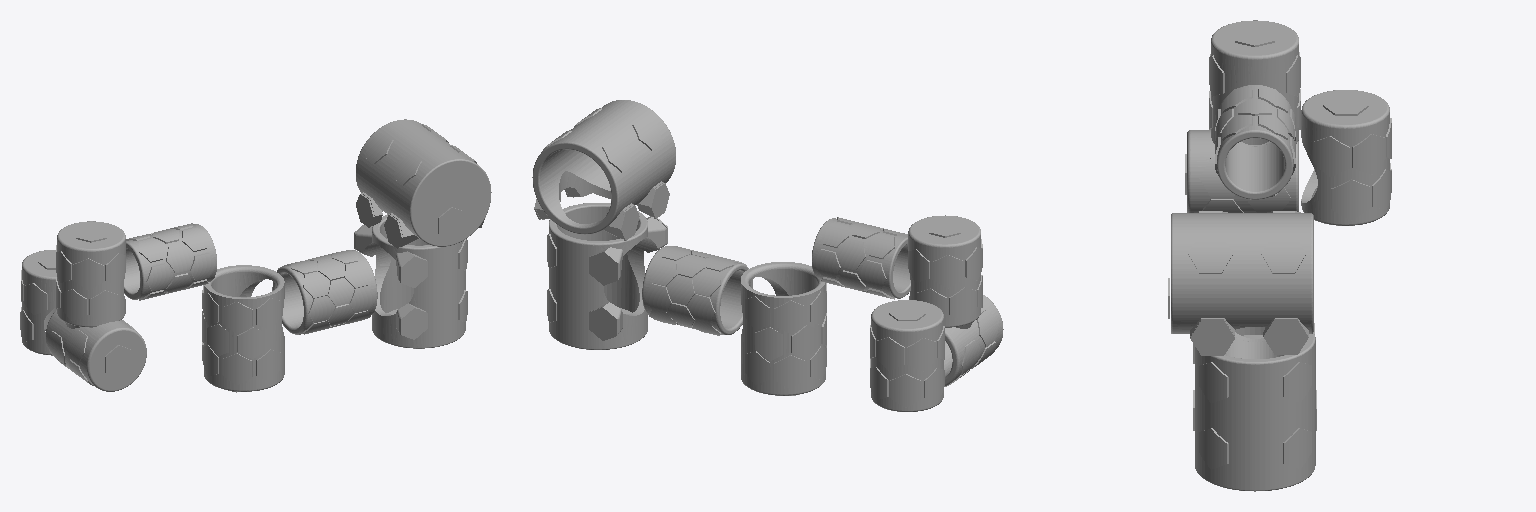
--- Facts derived from the render (not from the file) ---
Views: 3 orthographic renders of the robot side by side, from view 1: azimuth 30°, elevation 25°; view 2: azimuth 150°, elevation 25°; view 3: azimuth 270°, elevation 25°.
Model dual_arm_agv with 124 links and 123 joints (6 revolute, 117 fixed), rooted at World, posed all joints at 0.
Links seen in each view (by area): view 1: right_eskin_05-2axis, right_eskin_05-1axis, right_eskin_03axis, right_eskin_01-2axis, right_eskin_01-3axis, right_eskin_02axis, right_eskin_01-1axis, right_eskin_04axis, right_eskin_01-3lib-02, right_eskin_03-axis-02, right_eskin_03-axis-11, right_eskin_01-3lib-09 (+16 smaller); view 2: right_eskin_05-2axis, right_eskin_05-1axis, right_eskin_03axis, right_eskin_01-1axis, right_eskin_01-3axis, right_eskin_02axis, right_eskin_04axis, right_eskin_01-2axis, right_eskin_01-1lib-08, right_eskin_03-axis-13, right_eskin_01-3lib-04, right_eskin_03-axis-04 (+24 smaller); view 3: right_eskin_05-2axis, right_eskin_05-1axis, right_eskin_01-1axis, right_eskin_01-3axis, right_eskin_02axis, right_eskin_01-2axis, right_eskin_05-2lib-18, right_eskin_05-2lib-05, right_eskin_01-1lib-06, right_eskin_05-2flat-20, right_eskin_05-2flat-07, right_eskin_01-1lib-05 (+11 smaller).
Link boxes in pixels (x1=…): right_eskin_05-2axis: x1=356, y1=119, x2=491, y2=246; right_eskin_05-1axis: x1=355, y1=214, x2=465, y2=348; right_eskin_03axis: x1=204, y1=265, x2=284, y2=391; right_eskin_01-2axis: x1=46, y1=310, x2=146, y2=391; right_eskin_01-3axis: x1=57, y1=221, x2=125, y2=327; right_eskin_02axis: x1=124, y1=224, x2=216, y2=299; right_eskin_01-1axis: x1=22, y1=250, x2=79, y2=355; right_eskin_04axis: x1=272, y1=250, x2=377, y2=334; right_eskin_01-3lib-02: x1=73, y1=258, x2=103, y2=290; right_eskin_03-axis-02: x1=222, y1=302, x2=252, y2=333; right_eskin_03-axis-11: x1=222, y1=353, x2=252, y2=384; right_eskin_01-3lib-09: x1=89, y1=290, x2=117, y2=321; right_eskin_05-2axis: x1=532, y1=100, x2=675, y2=238; right_eskin_05-1axis: x1=549, y1=203, x2=666, y2=349; right_eskin_03axis: x1=741, y1=262, x2=825, y2=395; right_eskin_01-1axis: x1=871, y1=300, x2=943, y2=411; right_eskin_01-3axis: x1=908, y1=215, x2=980, y2=327; right_eskin_02axis: x1=812, y1=218, x2=910, y2=298; right_eskin_04axis: x1=642, y1=246, x2=752, y2=334; right_eskin_01-2axis: x1=944, y1=295, x2=1003, y2=385; right_eskin_01-1lib-08: x1=890, y1=374, x2=921, y2=407; right_eskin_03-axis-13: x1=774, y1=355, x2=805, y2=388; right_eskin_01-3lib-04: x1=932, y1=255, x2=963, y2=288; right_eskin_03-axis-04: x1=774, y1=300, x2=805, y2=333; right_eskin_05-2axis: x1=1171, y1=213, x2=1313, y2=336; right_eskin_05-1axis: x1=1195, y1=324, x2=1315, y2=491; right_eskin_01-1axis: x1=1301, y1=90, x2=1389, y2=225; right_eskin_01-3axis: x1=1211, y1=20, x2=1298, y2=145; right_eskin_02axis: x1=1217, y1=85, x2=1293, y2=199; right_eskin_01-2axis: x1=1187, y1=130, x2=1298, y2=212; right_eskin_05-2lib-18: x1=1188, y1=236, x2=1232, y2=273; right_eskin_05-2lib-05: x1=1261, y1=236, x2=1305, y2=273; right_eskin_01-1lib-06: x1=1331, y1=179, x2=1370, y2=220; right_eskin_05-2flat-20: x1=1190, y1=320, x2=1234, y2=355; right_eskin_05-2flat-07: x1=1264, y1=320, x2=1308, y2=354; right_eskin_01-1lib-05: x1=1313, y1=136, x2=1350, y2=176.
Size in the robot's own frame: 0.5587 by 0.2107 by 0.2641 metres.
Meshes: 21 distinct files referenced, 115 mesh visuals loaded (11 Collada DAE); not drawn: 8 (reference not matched to a file when rendering).

URDF robot description (dual_arm_agv):
<?xml  version="1.0"?>
<robot name ="dual_arm_agv"> 
    <!-- Author: Chengjin Wang; e-mail:[email redacted]. The urdf file was develped in tongji university.-->

    <!--create  color params-->
    <material name ="LightGrey">
        <color rgba="0.7 0.7 0.7 1.0"/>
    </material>

    <!--create mass params
    <mass name ="agv_base_mass">
        <mass value="1.0"/>
    </mass>

    <mass name ="shoulder_mass">
        <mass value="2.0"/>
    </mass>
    <mass name ="upper_arm_mass">
        <mass value="3.42"/>
    </mass>
    <mass name ="forearm_mass">
        <mass value="1.26"/>
    </mass>
    <mass name ="wrist_1_mass">
        <mass value="0.8"/>
    </mass>
    <mass name ="wrist_2_mass">
        <mass value="0.8"/>
    </mass>
    <mass name ="wrist_3_mass">
        <mass value="0.35"/>
    </mass>
-->

    <!--Create a world.-->
    <link  name ="World"/>

    <joint name="agv_base_link_to_world" type="fixed">
        <parent link="World"/>
        <child link="agv_base_link"/>
        <origin xyz="0.0 0.0 0.0" rpy="0.0 0.0 0.0"/>
    </joint>
    <!--agv_base_link-->
    <link name = "agv_base_link">
        <visual>
            <origin  xyz="0.0 0.0 0.0" rpy="0.0 0.0 0.0"/>
            <geometry>
                <mesh filename = "meshes/agv_base_link.STL"/>
            </geometry >
            <material name ="LightGrey"/>
        </visual>
        <collision>
            <origin xyz="0.0 0.0 0.0" rpy="0.0 0.0 0.0"/>
            <geometry>
                <mesh filename ="meshes/agv_base_link.STL"/>
            </geometry>
        </collision>
        <inertial>
            <mass value ="60"/>
            <inertia ixx="1" ixy="0.0" ixz="0.0" iyy="1" iyz="0.0" izz="1"/>
        </inertial>
    </link>


    <!--arm base link to agv base joint-->
    <joint name="right_base_link_to_agv_base_link" type="fixed">
        <parent link="agv_base_link"/>
        <child link="right_base_link"/>
        <axis xyz="0.0 0.0 1.0"/>
        <origin xyz="0.262 0. 1.2465" rpy="0.0 0.0 0.0" />
        <limit lower="-6.28318530718" upper="6.28318530718" effort="56.0" velocity="3.14159265359"/>
    </joint>

    <!--link chain: arm base link -shouder link- upper link- forearm link- wrist link 1 - wrist link 2 - wrist link3 -->
    <!-- right arm base link-->
    <link name="right_base_link">
        <visual>
            <origin xyz="0.0 -0.215 0.0" rpy="1.5708 0.0 0.0"/>
            <geometry>
                <mesh filename ="meshes/base.dae"/>
            </geometry>
            <material name = "LightGrey"/>
        </visual>
        <collision>
            <origin xyz="0.0 -0.215 0.0" rpy="1.5708 0.0 0.0"/>
            <geometry>
                 <mesh filename = "meshes/base.stl"/>
            </geometry>
        </collision>
        <inertial>
            <mass value="2.0"/>
            <inertia ixx="0.003053165" ixy="0.0" ixz="0.0" iyy="0.003053165" iyz="0.0" izz="0.005625"/>
        </inertial>
    </link>

    
    <!--right arm joint 1 -->
    <joint name="right_shoulder_link_to_right_base_link" type="revolute">
            <origin xyz="0.0 -0.3669 0.0 " rpy="1.5708 0.0 0.0"/>
            <parent link="right_base_link"/>
            <child link="right_shoulder_link"/>
            <axis xyz="0.0 0.0 1.0"/>
            <limit lower="-6.28318530718" upper="6.28318530718" effort="56.0" velocity="1.5708"/>
    </joint>

    <!--right shouder link-->
  
    <link name="right_shoulder_link">
        <visual>
            <origin xyz="0.0 0.0 0.0" rpy="0.0 0.0 3.14159"/>
            <geometry>
                <mesh filename ="meshes/shoulder.dae"/>
            </geometry>
            <material name = "LightGrey"/>
        </visual>
        <collision>
            <origin xyz="0.0 0.0 0.0" rpy="0.0 0.0 3.14159"/>
            <geometry>
                    <mesh filename ="meshes/shoulder.stl"/>
            </geometry>
        </collision>
        <inertial>
            <origin xyz="0 0 0" rpy="0 0 0" />
            <mass value ="2.0"/>
            <inertia ixx="0.008093163" ixy="0.0" ixz="0.0" iyy="0.008093163" iyz="0.0" izz="0.005625"/>
        </inertial>
    </link>


    <!--right arm 05-2 eskin joint-->
     <joint name="right_shoulder_link_to_right_eskin_05-2axis" type="fixed">
            <origin xyz="-0.0 0.0 -0.055" rpy="0.0 0.0 1.5708"/>
            <parent link="right_shoulder_link"/>
            <child link="right_eskin_05-2axis"/>
            <axis xyz="0.0 0.0 1.0"/>
            <limit lower="-6.28318530718" upper="6.28318530718" effort="56.0" velocity="1.5708"/>
    </joint>

    <!--right arm 05-2 eskin model -->
    <link name="right_eskin_05-2axis">
        <visual>
            <origin xyz="0.0 0.0 0.0" rpy="0.0 0.0 0.0"/>
            <geometry>
                <mesh filename ="meshes/e_skin/05_meshs/05_axis_py.dae"/>
            </geometry>
            <material name = "LightGrey"/>
        </visual>
        <collision>
            <origin xyz="0.0 0.0 0.0" rpy="0.0 0.0 0.0"/>
        <geometry>
             <mesh filename ="meshes/e_skin/05_meshs/05_axis_py.stl"/>
        </geometry>
        </collision>
        <inertial>
            <origin xyz="0 0 0" rpy="0 0 0" />
            <mass value ="2.0"/>
            <inertia ixx="0.008093163" ixy="0.0" ixz="0.0" iyy="0.008093163" iyz="0.0" izz="0.005625"/>
        </inertial>
    </link>


    <!-- right_arm 05-2 eskin first  culon -->

    <!--right arm 05-2lib-01 eskin joint-->
     <joint name="right_eskin_05-2axis_to_right_eskin_05-2flat-01" type="fixed">
            <origin xyz="-0.0394 0.05648 0.026" rpy="-1.5708 0.5235 0.0"/>
            <parent link="right_eskin_05-2axis"/>
            <child link="right_eskin_05-2flat-01"/>
            <axis xyz="0.0 0.0 1.0"/>
            <limit lower="-6.28318530718" upper="6.28318530718" effort="56.0" velocity="1.5708"/>
    </joint>

    <!--right arm 05-2lib-01 eskin model -->
    <link name="right_eskin_05-2flat-01">
        <visual>
            <origin xyz="0.0 0.0 0.0" rpy="0.0 0.0 0.0"/>
            <geometry>
                <mesh filename ="meshes/e_skin/05_meshs/flat_py.dae"/>
            </geometry>
            <material name = "LightGrey"/>
        </visual>
        <collision>
            <origin xyz="0.0 0.0 0.0" rpy="0.0 0.0 0.0"/>
        <geometry>
             <mesh filename ="meshes/e_skin/05_meshs/flat_py.stl"/>
        </geometry>
        </collision>
        <inertial>
            <origin xyz="0 0 0" rpy="0 0 0" />
            <mass value ="2.0"/>
            <inertia ixx="0.008093163" ixy="0.0" ixz="0.0" iyy="0.008093163" iyz="0.0" izz="0.005625"/>
        </inertial>
    </link>

    <!--right arm 05-2lib-03 eskin joint-->
    <joint name="right_eskin_05-2axis_to_right_eskin_05-2lib-03" type="fixed">
            <origin xyz="0.042426 0.042426 0.026" rpy="0.0 0.0 -0.785375"/>
            <parent link="right_eskin_05-2axis"/>
            <child link="right_eskin_05-2lib-03"/>
            <axis xyz="0.0 0.0 1.0"/>
            <limit lower="-6.28318530718" upper="6.28318530718" effort="56.0" velocity="1.5708"/>
    </joint>

    <!--right arm 05-2lib-03 eskin model -->
    <link name="right_eskin_05-2lib-03">
        <visual>
            <origin xyz="0.0 0.0 0.0" rpy="0.0 0.0 0.0"/>
            <geometry>
                <mesh filename ="meshes/e_skin/05_meshs/05_lib_py.dae"/>
            </geometry>
            <material name = "LightGrey"/>
        </visual>
        <collision>
            <origin xyz="0.0 0.0 0.0" rpy="0.0 0.0 0.0"/>
        <geometry>
             <mesh filename ="meshes/e_skin/05_meshs/05_lib_py.stl"/>
        </geometry>
        </collision>
        <inertial>
            <origin xyz="0 0 0" rpy="0 0 0" />
            <mass value ="2.0"/>
            <inertia ixx="0.008093163" ixy="0.0" ixz="0.0" iyy="0.008093163" iyz="0.0" izz="0.005625"/>
        </inertial>
    </link>

    <!--right arm 05-2lib-05 eskin joint-->
    <joint name="right_eskin_05-2axis_to_right_eskin_05-2lib-05" type="fixed">
            <origin xyz="0.042426 -0.042426 0.026" rpy="0.0 0.0 -2.3636"/>
            <parent link="right_eskin_05-2axis"/>
            <child link="right_eskin_05-2lib-05"/>
            <axis xyz="0.0 0.0 1.0"/>
            <limit lower="-6.28318530718" upper="6.28318530718" effort="56.0" velocity="1.5708"/>
    </joint>

    <!--right arm 05-2lib-05 eskin model -->
    <link name="right_eskin_05-2lib-05">
        <visual>
            <origin xyz="0.0 0.0 0.0" rpy="0.0 0.0 0.0"/>
            <geometry>
                <mesh filename ="meshes/e_skin/05_meshs/05_lib_py.dae"/>
            </geometry>
            <material name = "LightGrey"/>
        </visual>
        <collision>
            <origin xyz="0.0 0.0 0.0" rpy="0.0 0.0 0.0"/>
        <geometry>
             <mesh filename ="meshes/e_skin/05_meshs/05_lib_py.stl"/>
        </geometry>
        </collision>
        <inertial>
            <origin xyz="0 0 0" rpy="0 0 0" />
            <mass value ="2.0"/>
            <inertia ixx="0.008093163" ixy="0.0" ixz="0.0" iyy="0.008093163" iyz="0.0" izz="0.005625"/>
        </inertial>
    </link>

    <!--right arm 05-2lib-07 eskin joint-->
    <joint name="right_eskin_05-2axis_to_right_eskin_05-2flat-07" type="fixed">
            <origin xyz="-0.0394 -0.05648 0.026" rpy="-1.5708 0.5235 0.0"/>
            <parent link="right_eskin_05-2axis"/>
            <child link="right_eskin_05-2flat-07"/>
            <axis xyz="0.0 0.0 1.0"/>
            <limit lower="-6.28318530718" upper="6.28318530718" effort="56.0" velocity="1.5708"/>
    </joint>

    <!--right arm 05-2lib-07 eskin model -->
    <link name="right_eskin_05-2flat-07">
        <visual>
            <origin xyz="0.0 0.0 0.0" rpy="0.0 0.0 0.0"/>
            <geometry>
                <mesh filename ="meshes/e_skin/05_meshs/flat_py.dae"/>
            </geometry>
            <material name = "LightGrey"/>
        </visual>
        <collision>
            <origin xyz="0.0 0.0 0.0" rpy="0.0 0.0 0.0"/>
        <geometry>
             <mesh filename ="meshes/e_skin/05_meshs/flat_py.stl"/>
        </geometry>
        </collision>
        <inertial>
            <origin xyz="0 0 0" rpy="0 0 0" />
            <mass value ="2.0"/>
            <inertia ixx="0.008093163" ixy="0.0" ixz="0.0" iyy="0.008093163" iyz="0.0" izz="0.005625"/>
        </inertial>
    </link>



     <!-- right_arm 05-2 eskin third  culon -->

     <joint name="right_eskin_05-2axis_to_right_eskin_05-2flat-14" type="fixed">
            <origin xyz="-0.0394 0.05648 0.095" rpy="-1.5708 0.5235 0.0"/>
            <parent link="right_eskin_05-2axis"/>
            <child link="right_eskin_05-2flat-14"/>
            <axis xyz="0.0 0.0 1.0"/>
            <limit lower="-6.28318530718" upper="6.28318530718" effort="56.0" velocity="1.5708"/>
    </joint>

    <!--right arm 05-2lib-14 eskin model -->
    <link name="right_eskin_05-2flat-14">
        <visual>
            <origin xyz="0.0 0.0 0.0" rpy="0.0 0.0 0.0"/>
            <geometry>
                <mesh filename ="meshes/e_skin/05_meshs/flat_py.dae"/>
            </geometry>
            <material name = "LightGrey"/>
        </visual>
        <collision>
            <origin xyz="0.0 0.0 0.0" rpy="0.0 0.0 0.0"/>
        <geometry>
             <mesh filename ="meshes/e_skin/05_meshs/flat_py.stl"/>
        </geometry>
        </collision>
        <inertial>
            <origin xyz="0 0 0" rpy="0 0 0" />
            <mass value ="2.0"/>
            <inertia ixx="0.008093163" ixy="0.0" ixz="0.0" iyy="0.008093163" iyz="0.0" izz="0.005625"/>
        </inertial>
    </link>

    <!--right arm 05-2lib-16 eskin joint-->
    <joint name="right_eskin_05-2axis_to_right_eskin_05-2lib-16" type="fixed">
            <origin xyz="0.042426 0.042426 0.095" rpy="0.0 0.0 -0.785375"/>
            <parent link="right_eskin_05-2axis"/>
            <child link="right_eskin_05-2lib-16"/>
            <axis xyz="0.0 0.0 1.0"/>
            <limit lower="-6.28318530718" upper="6.28318530718" effort="56.0" velocity="1.5708"/>
    </joint>

    <!--right arm 05-2lib-16 eskin model -->
    <link name="right_eskin_05-2lib-16">
        <visual>
            <origin xyz="0.0 0.0 0.0" rpy="0.0 0.0 0.0"/>
            <geometry>
                <mesh filename ="meshes/e_skin/05_meshs/05_lib_py.dae"/>
            </geometry>
            <material name = "LightGrey"/>
        </visual>
        <collision>
            <origin xyz="0.0 0.0 0.0" rpy="0.0 0.0 0.0"/>
        <geometry>
             <mesh filename ="meshes/e_skin/05_meshs/05_lib_py.stl"/>
        </geometry>
        </collision>
        <inertial>
            <origin xyz="0 0 0" rpy="0 0 0" />
            <mass value ="2.0"/>
            <inertia ixx="0.008093163" ixy="0.0" ixz="0.0" iyy="0.008093163" iyz="0.0" izz="0.005625"/>
        </inertial>
    </link>


    <!--right arm 05-2lib-18 eskin joint-->
    <joint name="right_eskin_05-2axis_to_right_eskin_05-2lib-18" type="fixed">
            <origin xyz="0.042426 -0.042426 0.095" rpy="0.0 0.0 -2.3636"/>
            <parent link="right_eskin_05-2axis"/>
            <child link="right_eskin_05-2lib-18"/>
            <axis xyz="0.0 0.0 1.0"/>
            <limit lower="-6.28318530718" upper="6.28318530718" effort="56.0" velocity="1.5708"/>
    </joint>

    <!--right arm 05-2lib-18 eskin model -->
    <link name="right_eskin_05-2lib-18">
        <visual>
            <origin xyz="0.0 0.0 0.0" rpy="0.0 0.0 0.0"/>
            <geometry>
                <mesh filename ="meshes/e_skin/05_meshs/05_lib_py.dae"/>
            </geometry>
            <material name = "LightGrey"/>
        </visual>
        <collision>
            <origin xyz="0.0 0.0 0.0" rpy="0.0 0.0 0.0"/>
        <geometry>
             <mesh filename ="meshes/e_skin/05_meshs/05_lib_py.stl"/>
        </geometry>
        </collision>
        <inertial>
            <origin xyz="0 0 0" rpy="0 0 0" />
            <mass value ="2.0"/>
            <inertia ixx="0.008093163" ixy="0.0" ixz="0.0" iyy="0.008093163" iyz="0.0" izz="0.005625"/>
        </inertial>
    </link>

    <!--right arm 05-2lib-20 eskin joint-->
    <joint name="right_eskin_05-2axis_to_right_eskin_05-2flat-20" type="fixed">
            <origin xyz="-0.0394 -0.05648 0.095" rpy="1.5708 0.5235 0.0"/>
            <parent link="right_eskin_05-2axis"/>
            <child link="right_eskin_05-2flat-20"/>
            <axis xyz="0.0 0.0 1.0"/>
            <limit lower="-6.28318530718" upper="6.28318530718" effort="56.0" velocity="1.5708"/>
    </joint>

    <!--right arm 05-2lib-20 eskin model -->
    <link name="right_eskin_05-2flat-20">
        <visual>
            <origin xyz="0.0 0.0 0.0" rpy="0.0 0.0 0.0"/>
            <geometry>
                <mesh filename ="meshes/e_skin/05_meshs/flat_py.dae"/>
            </geometry>
            <material name = "LightGrey"/>
        </visual>
        <collision>
            <origin xyz="0.0 0.0 0.0" rpy="0.0 0.0 0.0"/>
        <geometry>
             <mesh filename ="meshes/e_skin/05_meshs/flat_py.stl"/>
        </geometry>
        </collision>
        <inertial>
            <origin xyz="0 0 0" rpy="0 0 0" />
            <mass value ="2.0"/>
            <inertia ixx="0.008093163" ixy="0.0" ixz="0.0" iyy="0.008093163" iyz="0.0" izz="0.005625"/>
        </inertial>
    </link>

     <!-- right_arm 05-2 eskin flat  culon -->
    <joint name="right_eskin_05-2axis_to_right_eskin_05-2flat-23" type="fixed">
            <origin xyz="-0.025 0.0 0.135" rpy="0.0 0.0 0.0"/>
            <parent link="right_eskin_05-2axis"/>
            <child link="right_eskin_05-2flat-23"/>
            <axis xyz="0.0 0.0 1.0"/>
            <limit lower="-6.28318530718" upper="6.28318530718" effort="56.0" velocity="1.5708"/>
    </joint>


    <!--right arm 05-2lib-23 eskin model -->
    <link name="right_eskin_05-2flat-23">
        <visual>
            <origin xyz="0.0 0.0 0.0" rpy="0.0 0.0 0.0"/>
            <geometry>
                <mesh filename ="meshes/e_skin/05_meshs/flat_py.dae"/>
            </geometry>
            <material name = "LightGrey"/>
        </visual>
        <collision>
            <origin xyz="0.0 0.0 0.0" rpy="0.0 0.0 0.0"/>
        <geometry>
             <mesh filename ="meshes/e_skin/05_meshs/flat_py.stl"/>
        </geometry>
        </collision>
        <inertial>
            <origin xyz="0 0 0" rpy="0 0 0" />
            <mass value ="2.0"/>
            <inertia ixx="0.008093163" ixy="0.0" ixz="0.0" iyy="0.008093163" iyz="0.0" izz="0.005625"/>
        </inertial>
    </link>

    <!--right arm joint 2-->
    <joint name="right_upper_arm_link_to_right_shoulder_link" type="revolute">
        <origin xyz="0.0 0.0 0.0" rpy="1.5708 0.0  0."/>
        <parent link="right_shoulder_link"/>
        <child link="right_upper_arm_link"/>
        <axis xyz="0.0 0.0 1"/>
        <limit lower="-6.28318530718" upper="6.28318530718" effort="56.0" velocity="1.5708"/>
    </joint>

    <!--right upper link -->
    <link name="right_upper_arm_link">
        <inertial>
            <origin xyz="-0.121825 0.0 0.12" rpy="  0.0 1.5708 0.0"/>
            <mass value ="3.42"/>
            <inertia ixx="0.021728483" ixy="0.0" ixz="0.0" iyy="0.021728483" iyz="0.0" izz="0.00961875"/>
        </inertial>
        <visual >
            <origin xyz="0.0 0.0 0.1198" rpy="1.5708 0.0 -1.5708 "/>
            <geometry>
                <mesh filename="meshes/upperarm.dae"/>
            </geometry>
            <material name="LightGrey"/>
        </visual>
        <collision>
            <origin xyz="0.0 0.0 0.1198" rpy="1.5708 0.0 -1.5708"/>
            <geometry>
                <mesh filename="meshes/upperarm.stl"/>
            </geometry>
        </collision>
    </link>


     <!-- right arm 05-01 eskin joint -->
     <joint name="right_upper_arm_link_to_right_eskin_05-1axis" type="fixed">
            <origin xyz="0.0 0.0 0.0648" rpy="0.0 0.0  0.0"/>
            <parent link="right_upper_arm_link"/>
            <child link="right_eskin_05-1axis"/>
            <axis xyz="0.0 0.0 1.0"/>
            <limit lower="-6.28318530718" upper="6.28318530718" effort="56.0" velocity="1.5708"/>
    </joint>

    <!--right arm 05-01 eskin model -->
    <link name="right_eskin_05-1axis">
        <visual>
            <origin xyz="0.0 0.0 0.00" rpy="0.0 0.0 0.0"/>
            <geometry>
                <mesh filename ="meshes/e_skin/05_meshs/05_axis_py.dae"/>
            </geometry>
            <material name = "LightGrey"/>
        </visual>
        <collision>
            <origin xyz="0.0 0.0 0.0" rpy="0.0 0.0 0.0"/>
        <geometry>
             <mesh filename ="meshes/e_skin/05_meshs/05_axis_py.stl"/>
        </geometry>
        </collision>
        <inertial>
            <origin xyz="0 0 0" rpy="0 0 0" />
            <mass value ="2.0"/>
            <inertia ixx="0.008093163" ixy="0.0" ixz="0.0" iyy="0.008093163" iyz="0.0" izz="0.005625"/>
        </inertial>
    </link>

    <!-- right_arm 05-1 eskin first  culon -->

    <!--right arm 05-1lib-01 eskin joint-->
     <joint name="right_eskin_05-1axis_to_right_eskin_05-1flat-01" type="fixed">
            <origin xyz="-0.0394 0.05648 0.026" rpy="-1.5708 0.5235 0.0"/>
            <parent link="right_eskin_05-1axis"/>
            <child link="right_eskin_05-1flat-01"/>
            <axis xyz="0.0 0.0 1.0"/>
            <limit lower="-6.28318530718" upper="6.28318530718" effort="56.0" velocity="1.5708"/>
    </joint>

    <!--right arm 05-1lib-01 eskin model -->
    <link name="right_eskin_05-1flat-01">
        <visual>
            <origin xyz="0.0 0.0 0.0" rpy="0.0 0.0 0.0"/>
            <geometry>
                <mesh filename ="meshes/e_skin/05_meshs/flat_py.dae"/>
            </geometry>
            <material name = "LightGrey"/>
        </visual>
        <collision>
            <origin xyz="0.0 0.0 0.0" rpy="0.0 0.0 0.0"/>
        <geometry>
             <mesh filename ="meshes/e_skin/05_meshs/flat_py.stl"/>
        </geometry>
        </collision>
        <inertial>
            <origin xyz="0 0 0" rpy="0 0 0" />
            <mass value ="2.0"/>
            <inertia ixx="0.008093163" ixy="0.0" ixz="0.0" iyy="0.008093163" iyz="0.0" izz="0.005625"/>
        </inertial>
    </link>

    <!--right arm 05-1lib-03 eskin joint-->
    <joint name="right_eskin_05-1axis_to_right_eskin_05-1lib-03" type="fixed">
            <origin xyz="0.042426 0.042426 0.026" rpy="0.0 0.0 -0.785375"/>
            <parent link="right_eskin_05-1axis"/>
            <child link="right_eskin_05-1lib-03"/>
            <axis xyz="0.0 0.0 1.0"/>
            <limit lower="-6.28318530718" upper="6.28318530718" effort="56.0" velocity="1.5708"/>
    </joint>

    <!--right arm 05-1lib-03 eskin model -->
    <link name="right_eskin_05-1lib-03">
        <visual>
            <origin xyz="0.0 0.0 0.0" rpy="0.0 0.0 0.0"/>
            <geometry>
                <mesh filename ="meshes/e_skin/05_meshs/05_lib_py.dae"/>
            </geometry>
            <material name = "LightGrey"/>
        </visual>
        <collision>
            <origin xyz="0.0 0.0 0.0" rpy="0.0 0.0 0.0"/>
        <geometry>
             <mesh filename ="meshes/e_skin/05_meshs/05_lib_py.stl"/>
        </geometry>
        </collision>
        <inertial>
            <origin xyz="0 0 0" rpy="0 0 0" />
            <mass value ="2.0"/>
            <inertia ixx="0.008093163" ixy="0.0" ixz="0.0" iyy="0.008093163" iyz="0.0" izz="0.005625"/>
        </inertial>
    </link>


    <!--right arm 05-1lib-05 eskin joint-->
    <joint name="right_eskin_05-1axis_to_right_eskin_05-1lib-05" type="fixed">
            <origin xyz="0.042426 -0.042426 0.026" rpy="0.0 0.0 -2.3636"/>
            <parent link="right_eskin_05-1axis"/>
            <child link="right_eskin_05-1lib-05"/>
            <axis xyz="0.0 0.0 1.0"/>
            <limit lower="-6.28318530718" upper="6.28318530718" effort="56.0" velocity="1.5708"/>
    </joint>

    <!--right arm 05-1lib-05 eskin model -->
    <link name="right_eskin_05-1lib-05">
        <visual>
            <origin xyz="0.0 0.0 0.0" rpy="0.0 0.0 0.0"/>
            <geometry>
                <mesh filename ="meshes/e_skin/05_meshs/05_lib_py.dae"/>
            </geometry>
            <material name = "LightGrey"/>
        </visual>
        <collision>
            <origin xyz="0.0 0.0 0.0" rpy="0.0 0.0 0.0"/>
        <geometry>
             <mesh filename ="meshes/e_skin/05_meshs/05_lib_py.stl"/>
        </geometry>
        </collision>
        <inertial>
            <origin xyz="0 0 0" rpy="0 0 0" />
            <mass value ="2.0"/>
            <inertia ixx="0.008093163" ixy="0.0" ixz="0.0" iyy="0.008093163" iyz="0.0" izz="0.005625"/>
        </inertial>
    </link>

    <!--right arm 05-1lib-07 eskin joint-->
    <joint name="right_eskin_05-1axis_to_right_eskin_05-1flat-07" type="fixed">
            <origin xyz="-0.0394 -0.05648 0.026" rpy="-1.5708 0.5235 0.0"/>
            <parent link="right_eskin_05-1axis"/>
            <child link="right_eskin_05-1flat-07"/>
            <axis xyz="0.0 0.0 1.0"/>
            <limit lower="-6.28318530718" upper="6.28318530718" effort="56.0" velocity="1.5708"/>
    </joint>

    <!--right arm 05-1lib-07 eskin model -->
    <link name="right_eskin_05-1flat-07">
        <visual>
            <origin xyz="0.0 0.0 0.0" rpy="0.0 0.0 0.0"/>
            <geometry>
                <mesh filename ="meshes/e_skin/05_meshs/flat_py.dae"/>
            </geometry>
            <material name = "LightGrey"/>
        </visual>
        <collision>
            <origin xyz="0.0 0.0 0.0" rpy="0.0 0.0 0.0"/>
        <geometry>
             <mesh filename ="meshes/e_skin/05_meshs/flat_py.stl"/>
        </geometry>
        </collision>
        <inertial>
            <origin xyz="0 0 0" rpy="0 0 0" />
            <mass value ="2.0"/>
            <inertia ixx="0.008093163" ixy="0.0" ixz="0.0" iyy="0.008093163" iyz="0.0" izz="0.005625"/>
        </inertial>
    </link>

    <!-- right_arm 05-1 eskin third  culon -->

     <joint name="right_eskin_05-1axis_to_right_eskin_05-1flat-14" type="fixed">
            <origin xyz="-0.0394 0.05648 0.095" rpy="-1.5708 0.5235 0.0"/>
            <parent link="right_eskin_05-1axis"/>
            <child link="right_eskin_05-1flat-14"/>
            <axis xyz="0.0 0.0 1.0"/>
            <limit lower="-6.28318530718" upper="6.28318530718" effort="56.0" velocity="1.5708"/>
    </joint>

    <!--right arm 05-1lib-14 eskin model -->
    <link name="right_eskin_05-1flat-14">
        <visual>
            <origin xyz="0.0 0.0 0.0" rpy="0.0 0.0 0.0"/>
            <geometry>
                <mesh filename ="meshes/e_skin/05_meshs/flat_py.dae"/>
            </geometry>
            <material name = "LightGrey"/>
        </visual>
        <collision>
            <origin xyz="0.0 0.0 0.0" rpy="0.0 0.0 0.0"/>
        <geometry>
             <mesh filename ="meshes/e_skin/05_meshs/flat_py.stl"/>
        </geometry>
        </collision>
        <inertial>
            <origin xyz="0 0 0" rpy="0 0 0" />
            <mass value ="2.0"/>
            <inertia ixx="0.008093163" ixy="0.0" ixz="0.0" iyy="0.008093163" iyz="0.0" izz="0.005625"/>
        </inertial>
    </link>

    <!--right arm 05-1lib-16 eskin joint-->
    <joint name="right_eskin_05-1axis_to_right_eskin_05-1lib-16" type="fixed">
            <origin xyz="0.042426 0.042426 0.095" rpy="0.0 0.0 -0.785375"/>
            <parent link="right_eskin_05-1axis"/>
            <child link="right_eskin_05-1lib-16"/>
            <axis xyz="0.0 0.0 1.0"/>
            <limit lower="-6.28318530718" upper="6.28318530718" effort="56.0" velocity="1.5708"/>
    </joint>

    <!--right arm 05-1lib-16 eskin model -->
    <link name="right_eskin_05-1lib-16">
        <visual>
            <origin xyz="0.0 0.0 0.0" rpy="0.0 0.0 0.0"/>
            <geometry>
                <mesh filename ="meshes/e_skin/05_meshs/05_lib_py.dae"/>
            </geometry>
            <material name = "LightGrey"/>
        </visual>
        <collision>
            <origin xyz="0.0 0.0 0.0" rpy="0.0 0.0 0.0"/>
        <geometry>
             <mesh filename ="meshes/e_skin/05_meshs/05_lib_py.stl"/>
        </geometry>
        </collision>
        <inertial>
            <origin xyz="0 0 0" rpy="0 0 0" />
            <mass value ="2.0"/>
            <inertia ixx="0.008093163" ixy="0.0" ixz="0.0" iyy="0.008093163" iyz="0.0" izz="0.005625"/>
        </inertial>
    </link>


    <!--right arm 05-1lib-18 eskin joint-->
    <joint name="right_eskin_05-1axis_to_right_eskin_05-1lib-18" type="fixed">
            <origin xyz="0.042426 -0.042426 0.095" rpy="0.0 0.0 -2.3636"/>
            <parent link="right_eskin_05-1axis"/>
            <child link="right_eskin_05-1lib-18"/>
            <axis xyz="0.0 0.0 1.0"/>
            <limit lower="-6.28318530718" upper="6.28318530718" effort="56.0" velocity="1.5708"/>
    </joint>

    <!--right arm 05-1lib-18 eskin model -->
    <link name="right_eskin_05-1lib-18">
        <visual>
            <origin xyz="0.0 0.0 0.0" rpy="0.0 0.0 0.0"/>
            <geometry>
                <mesh filename ="meshes/e_skin/05_meshs/05_lib_py.dae"/>
            </geometry>
            <material name = "LightGrey"/>
        </visual>
        <collision>
            <origin xyz="0.0 0.0 0.0" rpy="0.0 0.0 0.0"/>
        <geometry>
             <mesh filename ="meshes/e_skin/05_meshs/05_lib_py.stl"/>
        </geometry>
        </collision>
        <inertial>
            <origin xyz="0 0 0" rpy="0 0 0" />
            <mass value ="2.0"/>
            <inertia ixx="0.008093163" ixy="0.0" ixz="0.0" iyy="0.008093163" iyz="0.0" izz="0.005625"/>
        </inertial>
    </link>

    <!--right arm 05-1lib-20 eskin joint-->
    <joint name="right_eskin_05-1axis_to_right_eskin_05-1flat-20" type="fixed">
            <origin xyz="-0.0394 -0.05648 0.095" rpy="1.5708 0.5235 0.0"/>
            <parent link="right_eskin_05-1axis"/>
            <child link="right_eskin_05-1flat-20"/>
            <axis xyz="0.0 0.0 1.0"/>
            <limit lower="-6.28318530718" upper="6.28318530718" effort="56.0" velocity="1.5708"/>
    </joint>

    <!--right arm 05-1lib-20 eskin model -->
    <link name="right_eskin_05-1flat-20">
        <visual>
            <origin xyz="0.0 0.0 0.0" rpy="0.0 0.0 0.0"/>
            <geometry>
                <mesh filename ="meshes/e_skin/05_meshs/flat_py.dae"/>
            </geometry>
            <material name = "LightGrey"/>
        </visual>
        <collision>
            <origin xyz="0.0 0.0 0.0" rpy="0.0 0.0 0.0"/>
        <geometry>
             <mesh filename ="meshes/e_skin/05_meshs/flat_py.stl"/>
        </geometry>
        </collision>
        <inertial>
            <origin xyz="0 0 0" rpy="0 0 0" />
            <mass value ="2.0"/>
            <inertia ixx="0.008093163" ixy="0.0" ixz="0.0" iyy="0.008093163" iyz="0.0" izz="0.005625"/>
        </inertial>
    </link>

    <!-- right_arm 05-1 eskin flat  culon -->
    <joint name="right_eskin_05-1axis_to_right_eskin_05-1flat-23" type="fixed">
            <origin xyz="-0.025 0.0 0.135" rpy="0.0 0.0 0.0"/>
            <parent link="right_eskin_05-1axis"/>
            <child link="right_eskin_05-1flat-23"/>
            <axis xyz="0.0 0.0 1.0"/>
            <limit lower="-6.28318530718" upper="6.28318530718" effort="56.0" velocity="1.5708"/>
    </joint>

    <!--right arm 05-1lib-23 eskin model -->
    <link name="right_eskin_05-1flat-23">
        <visual>
            <origin xyz="0.0 0.0 0.0" rpy="0.0 0.0 0.0"/>
            <geometry>
                <mesh filename ="meshes/e_skin/05_meshs/flat_py.dae"/>
            </geometry>
            <material name = "LightGrey"/>
        </visual>
        <collision>
            <origin xyz="0.0 0.0 0.0" rpy="0.0 0.0 0.0"/>
        <geometry>
             <mesh filename ="meshes/e_skin/05_meshs/flat_py.stl"/>
        </geometry>
        </collision>
        <inertial>
            <origin xyz="0 0 0" rpy="0 0 0" />
            <mass value ="2.0"/>
            <inertia ixx="0.008093163" ixy="0.0" ixz="0.0" iyy="0.008093163" iyz="0.0" izz="0.005625"/>
        </inertial>
    </link>


     <!--right arm 04 eskin joint-->
     <joint name="right_upper_arm_link_to_right_eskin_04axis" type="fixed">
            <origin xyz="-0.08 0.0 0.1195" rpy="0.0 0.0 3.14159"/>
            <parent link="right_upper_arm_link"/>
            <child link="right_eskin_04axis"/>
            <axis xyz="0.0 0.0 1.0"/>
            <limit lower="-6.28318530718" upper="6.28318530718" effort="56.0" velocity="1.5708"/>
    </joint>

    <!--right arm 04 eskin model -->
    <link name="right_eskin_04axis">
        <visual>
            <origin xyz="0.0 0.0 0.0" rpy="0.0 0.0 0.0"/>
            <geometry>
                <mesh filename ="meshes/e_skin/04_meshs/04_axis_py.dae"/>
            </geometry>
            <material name = "LightGrey"/>
        </visual>
        <collision>
            <origin xyz="0.0 0.0 0.0" rpy="0.0 0.0 0.0"/>
        <geometry>
             <mesh filename ="meshes/e_skin/04_meshs/04_axis_py.stl"/>
        </geometry>
        </collision>
        <inertial>
            <origin xyz="0 0 0" rpy="0 0 0" />
            <mass value ="2.0"/>
            <inertia ixx="0.008093163" ixy="0.0" ixz="0.0" iyy="0.008093163" iyz="0.0" izz="0.005625"/>
        </inertial>
    </link>

    <!-- right_arm  04 eskin first  culon -->

    <!--right arm 04 eskin lib 01 joint-->
    <joint name="right_eskin_04axis_to_right_eskin_04-1axis-01" type="fixed">
            <origin xyz="0.02179 0.044 0.0" rpy="0.0 0.0 0.0"/>
            <parent link="right_eskin_04axis"/>
            <child link="right_eskin_04-1axis-01"/>
            <axis xyz="0.0 0.0 1.0"/>
            <limit lower="-6.28318530718" upper="6.28318530718" effort="56.0" velocity="1.5708"/>
    </joint>

    <!--right arm 05-2lib-05 eskin model -->
    <link name="right_eskin_04-1axis-01">
        <visual>
            <origin xyz="0.0 0.0 0.0" rpy="0.0 0.0 0.0"/>
            <geometry>
                <mesh filename ="meshes/e_skin/04_meshs/04_lib_py.dae"/>
            </geometry>
            <material name = "LightGrey"/>
        </visual>
        <collision>
            <origin xyz="0.0 0.0 0.0" rpy="0.0 0.0 0.0"/>
        <geometry>
             <mesh filename ="meshes/e_skin/04_meshs/04_lib_py.stl"/>
        </geometry>
        </collision>
        <inertial>
            <origin xyz="0 0 0" rpy="0 0 0" />
            <mass value ="2.0"/>
            <inertia ixx="0.008093163" ixy="0.0" ixz="0.0" iyy="0.008093163" iyz="0.0" izz="0.005625"/>
        </inertial>
    </link>


     <!--right arm 04 eskin lib 02 joint-->
    <joint name="right_eskin_04axis_to_right_eskin_04-2axis-02" type="fixed">
            <origin xyz="0.02179 0.031125 0.0311" rpy="0.706825 0.0 0.0"/>
            <parent link="right_eskin_04axis"/>
            <child link="right_eskin_04-1axis-02"/>
            <axis xyz="0.0 0.0 1.0"/>
            <limit lower="-6.28318530718" upper="6.28318530718" effort="56.0" velocity="1.5708"/>
    </joint>

    <!--right arm 05-2lib-05 eskin model -->
    <link name="right_eskin_04-1axis-02">
        <visual>
            <origin xyz="0.0 0.0 0.0" rpy="0.0 0.0 0.0"/>
            <geometry>
                <mesh filename ="meshes/e_skin/04_meshs/04_lib_py.dae"/>
            </geometry>
            <material name = "LightGrey"/>
        </visual>
        <collision>
            <origin xyz="0.0 0.0 0.0" rpy="0.0 0.0 0.0"/>
        <geometry>
             <mesh filename ="meshes/e_skin/04_meshs/04_lib_py.stl"/>
        </geometry>
        </collision>
        <inertial>
            <origin xyz="0 0 0" rpy="0 0 0" />
            <mass value ="2.0"/>
            <inertia ixx="0.008093163" ixy="0.0" ixz="0.0" iyy="0.008093163" iyz="0.0" izz="0.005625"/>
        </inertial>
    </link>

     <!--right arm 04 eskin lib 03 joint-->
    <joint name="right_eskin_04axis_to_right_eskin_04-2axis-03" type="fixed">
            <origin xyz="0.02179 0.0 0.0439" rpy="1.57 0.0 0.0"/>
            <parent link="right_eskin_04axis"/>
            <child link="right_eskin_04-1axis-03"/>
            <axis xyz="0.0 0.0 1.0"/>
            <limit lower="-6.28318530718" upper="6.28318530718" effort="56.0" velocity="1.5708"/>
    </joint>

    <!--right arm 05-2lib-05 eskin model -->
    <link name="right_eskin_04-1axis-03">
        <visual>
            <origin xyz="0.0 0.0 0.0" rpy="0.0 0.0 0.0"/>
            <geometry>
                <mesh filename ="meshes/e_skin/04_meshs/04_lib_py.dae"/>
            </geometry>
            <material name = "LightGrey"/>
        </visual>
        <collision>
            <origin xyz="0.0 0.0 0.0" rpy="0.0 0.0 0.0"/>
        <geometry>
             <mesh filename ="meshes/e_skin/04_meshs/04_lib_py.stl"/>
        </geometry>
        </collision>
        <inertial>
            <origin xyz="0 0 0" rpy="0 0 0" />
            <mass value ="2.0"/>
            <inertia ixx="0.008093163" ixy="0.0" ixz="0.0" iyy="0.008093163" iyz="0.0" izz="0.005625"/>
        </inertial>
    </link>

    <!--right arm 04 eskin lib 04 joint-->
    <joint name="right_eskin_04axis_to_right_eskin_04-2axis-04" type="fixed">
            <origin xyz="0.02179 -0.031075 0.0311498" rpy="2.355 0.0 0.0"/>
            <parent link="right_eskin_04axis"/>
            <child link="right_eskin_04-1axis-04"/>
            <axis xyz="0.0 0.0 1.0"/>
            <limit lower="-6.28318530718" upper="6.28318530718" effort="56.0" velocity="1.5708"/>
    </joint>

    <!--right arm 05-2lib-05 eskin model -->
    <link name="right_eskin_04-1axis-04">
        <visual>
            <origin xyz="0.0 0.0 0.0" rpy="0.0 0.0 0.0"/>
            <geometry>
                <mesh filename ="meshes/e_skin/04_meshs/04_lib_py.dae"/>
            </geometry>
            <material name = "LightGrey"/>
        </visual>
        <collision>
            <origin xyz="0.0 0.0 0.0" rpy="0.0 0.0 0.0"/>
        <geometry>
             <mesh filename ="meshes/e_skin/04_meshs/04_lib_py.stl"/>
        </geometry>
        </collision>
        <inertial>
            <origin xyz="0 0 0" rpy="0 0 0" />
            <mass value ="2.0"/>
            <inertia ixx="0.008093163" ixy="0.0" ixz="0.0" iyy="0.008093163" iyz="0.0" izz="0.005625"/>
        </inertial>
    </link>


    <!--right arm 04 eskin lib 05 joint-->
    <joint name="right_eskin_04axis_to_right_eskin_04-2axis-05" type="fixed">
            <origin xyz="0.02179 -0.044 0.0" rpy="3.14 0.0 0.0"/>
            <parent link="right_eskin_04axis"/>
            <child link="right_eskin_04-1axis-05"/>
            <axis xyz="0.0 0.0 1.0"/>
            <limit lower="-6.28318530718" upper="6.28318530718" effort="56.0" velocity="1.5708"/>
    </joint>

    <!--right arm 05-2lib-05 eskin model -->
    <link name="right_eskin_04-1axis-05">
        <visual>
            <origin xyz="0.0 0.0 0.0" rpy="0.0 0.0 0.0"/>
            <geometry>
                <mesh filename ="meshes/e_skin/04_meshs/04_lib_py.dae"/>
            </geometry>
            <material name = "LightGrey"/>
        </visual>
        <collision>
            <origin xyz="0.0 0.0 0.0" rpy="0.0 0.0 0.0"/>
        <geometry>
             <mesh filename ="meshes/e_skin/04_meshs/04_lib_py.stl"/>
        </geometry>
        </collision>
        <inertial>
            <origin xyz="0 0 0" rpy="0 0 0" />
            <mass value ="2.0"/>
            <inertia ixx="0.008093163" ixy="0.0" ixz="0.0" iyy="0.008093163" iyz="0.0" izz="0.005625"/>
        </inertial>
    </link>


     <!--right arm 04 eskin lib 06 joint-->
    <joint name="right_eskin_04axis_to_right_eskin_04-2axis-06" type="fixed">
            <origin xyz="0.02179 -0.03117 -0.03105" rpy=" 3.925 0.0 0.0"/>
            <parent link="right_eskin_04axis"/>
            <child link="right_eskin_04-1axis-06"/>
            <axis xyz="0.0 0.0 1.0"/>
            <limit lower="-6.28318530718" upper="6.28318530718" effort="56.0" velocity="1.5708"/>
    </joint>

    <!--right arm 05-2lib-06 eskin model -->
    <link name="right_eskin_04-1axis-06">
        <visual>
            <origin xyz="0.0 0.0 0.0" rpy="0.0 0.0 0.0"/>
            <geometry>
                <mesh filename ="meshes/e_skin/04_meshs/04_lib_py.dae"/>
            </geometry>
            <material name = "LightGrey"/>
        </visual>
        <collision>
            <origin xyz="0.0 0.0 0.0" rpy="0.0 0.0 0.0"/>
        <geometry>
             <mesh filename ="meshes/e_skin/04_meshs/04_lib_py.stl"/>
        </geometry>
        </collision>
        <inertial>
            <origin xyz="0 0 0" rpy="0 0 0" />
            <mass value ="2.0"/>
            <inertia ixx="0.008093163" ixy="0.0" ixz="0.0" iyy="0.008093163" iyz="0.0" izz="0.005625"/>
        </inertial>
    </link>


    <!--right arm 04 eskin lib 07 joint-->
    <joint name="right_eskin_04axis_to_right_eskin_04-2axis-07" type="fixed">
            <origin xyz="0.02179 -0.0 -0.044" rpy=" 4.71 0.0 0.0"/>
            <parent link="right_eskin_04axis"/>
            <child link="right_eskin_04-1axis-07"/>
            <axis xyz="0.0 0.0 1.0"/>
            <limit lower="-6.28318530718" upper="6.28318530718" effort="56.0" velocity="1.5708"/>
    </joint>

    <!--right arm 05-2lib-07 eskin model -->
    <link name="right_eskin_04-1axis-07">
        <visual>
            <origin xyz="0.0 0.0 0.0" rpy="0.0 0.0 0.0"/>
            <geometry>
                <mesh filename ="meshes/e_skin/04_meshs/04_lib_py.dae"/>
            </geometry>
            <material name = "LightGrey"/>
        </visual>
        <collision>
            <origin xyz="0.0 0.0 0.0" rpy="0.0 0.0 0.0"/>
        <geometry>
             <mesh filename ="meshes/e_skin/04_meshs/04_lib_py.stl"/>
        </geometry>
        </collision>
        <inertial>
            <origin xyz="0 0 0" rpy="0 0 0" />
            <mass value ="2.0"/>
            <inertia ixx="0.008093163" ixy="0.0" ixz="0.0" iyy="0.008093163" iyz="0.0" izz="0.005625"/>
        </inertial>
    </link>

    <!--right arm 04 eskin lib 08 joint-->
    <joint name="right_eskin_04axis_to_right_eskin_04-2axis-08" type="fixed">
            <origin xyz="0.02179 0.031025 -0.031199" rpy=" 5.495 0.0 0.0"/>
            <parent link="right_eskin_04axis"/>
            <child link="right_eskin_04-1axis-08"/>
            <axis xyz="0.0 0.0 1.0"/>
            <limit lower="-6.28318530718" upper="6.28318530718" effort="56.0" velocity="1.5708"/>
    </joint>

    <!--right arm 05-2lib-08 eskin model -->
    <link name="right_eskin_04-1axis-08">
        <visual>
            <origin xyz="0.0 0.0 0.0" rpy="0.0 0.0 0.0"/>
            <geometry>
                <mesh filename ="meshes/e_skin/04_meshs/04_lib_py.dae"/>
            </geometry>
            <material name = "LightGrey"/>
        </visual>
        <collision>
            <origin xyz="0.0 0.0 0.0" rpy="0.0 0.0 0.0"/>
        <geometry>
             <mesh filename ="meshes/e_skin/04_meshs/04_lib_py.stl"/>
        </geometry>
        </collision>
        <inertial>
            <origin xyz="0 0 0" rpy="0 0 0" />
            <mass value ="2.0"/>
            <inertia ixx="0.008093163" ixy="0.0" ixz="0.0" iyy="0.008093163" iyz="0.0" izz="0.005625"/>
        </inertial>
    </link>



    <!-- right_arm  04 eskin second  culon -->

    <!--right arm 04 eskin lib 09 joint-->
    <joint name="right_eskin_04axis_to_right_eskin_04-1axis-09" type="fixed">
            <origin xyz="0.05058 0.04065 0.016829" rpy="0.3925 0.0 0.0"/>
            <parent link="right_eskin_04axis"/>
            <child link="right_eskin_04-1axis-00"/>
            <axis xyz="0.0 0.0 1.0"/>
            <limit lower="-6.28318530718" upper="6.28318530718" effort="56.0" velocity="1.5708"/>
    </joint>

    <!--right arm 05-2lib-09 eskin model -->
    <link name="right_eskin_04-1axis-00">
        <visual>
            <origin xyz="0.0 0.0 0.0" rpy="0.0 0.0 0.0"/>
            <geometry>
                <mesh filename ="meshes/e_skin/04_meshs/04_lib_py.dae"/>
            </geometry>
            <material name = "LightGrey"/>
        </visual>
        <collision>
            <origin xyz="0.0 0.0 0.0" rpy="0.0 0.0 0.0"/>
        <geometry>
             <mesh filename ="meshes/e_skin/04_meshs/04_lib_py.stl"/>
        </geometry>
        </collision>
        <inertial>
            <origin xyz="0 0 0" rpy="0 0 0" />
            <mass value ="2.0"/>
            <inertia ixx="0.008093163" ixy="0.0" ixz="0.0" iyy="0.008093163" iyz="0.0" izz="0.005625"/>
        </inertial>
    </link>


     <!--right arm 04 eskin lib 10 joint-->
    <joint name="right_eskin_04axis_to_right_eskin_04-2axis-10" type="fixed">
            <origin xyz="0.05058 0.0168625 0.04064" rpy="1.1775 0.0 0.0"/>
            <parent link="right_eskin_04axis"/>
            <child link="right_eskin_04-1axis-10"/>
            <axis xyz="0.0 0.0 1.0"/>
            <limit lower="-6.28318530718" upper="6.28318530718" effort="56.0" velocity="1.5708"/>
    </joint>

    <!--right arm 05-2lib-10 eskin model -->
    <link name="right_eskin_04-1axis-10">
        <visual>
            <origin xyz="0.0 0.0 0.0" rpy="0.0 0.0 0.0"/>
            <geometry>
                <mesh filename ="meshes/e_skin/04_meshs/04_lib_py.dae"/>
            </geometry>
            <material name = "LightGrey"/>
        </visual>
        <collision>
            <origin xyz="0.0 0.0 0.0" rpy="0.0 0.0 0.0"/>
        <geometry>
             <mesh filename ="meshes/e_skin/04_meshs/04_lib_py.stl"/>
        </geometry>
        </collision>
        <inertial>
            <origin xyz="0 0 0" rpy="0 0 0" />
            <mass value ="2.0"/>
            <inertia ixx="0.008093163" ixy="0.0" ixz="0.0" iyy="0.008093163" iyz="0.0" izz="0.005625"/>
        </inertial>
    </link>

     <!--right arm 04 eskin lib 11 joint-->
    <joint name="right_eskin_04axis_to_right_eskin_04-2axis-11" type="fixed">
            <origin xyz="0.05058 -0.01679 0.040667" rpy="1.9625 0.0 0.0"/>
            <parent link="right_eskin_04axis"/>
            <child link="right_eskin_04-1axis-11"/>
            <axis xyz="0.0 0.0 1.0"/>
            <limit lower="-6.28318530718" upper="6.28318530718" effort="56.0" velocity="1.5708"/>
    </joint>

    <!--right arm 05-2lib-05 eskin model -->
    <link name="right_eskin_04-1axis-11">
        <visual>
            <origin xyz="0.0 0.0 0.0" rpy="0.0 0.0 0.0"/>
            <geometry>
                <mesh filename ="meshes/e_skin/04_meshs/04_lib_py.dae"/>
            </geometry>
            <material name = "LightGrey"/>
        </visual>
        <collision>
            <origin xyz="0.0 0.0 0.0" rpy="0.0 0.0 0.0"/>
        <geometry>
             <mesh filename ="meshes/e_skin/04_meshs/04_lib_py.stl"/>
        </geometry>
        </collision>
        <inertial>
            <origin xyz="0 0 0" rpy="0 0 0" />
            <mass value ="2.0"/>
            <inertia ixx="0.008093163" ixy="0.0" ixz="0.0" iyy="0.008093163" iyz="0.0" izz="0.005625"/>
        </inertial>
    </link>

    <!--right arm 04 eskin lib 12 joint-->
    <joint name="right_eskin_04axis_to_right_eskin_04-2axis-12" type="fixed">
            <origin xyz="0.05058 -0.040627 0.0168947" rpy="2.7475 0.0 0.0"/>
            <parent link="right_eskin_04axis"/>
            <child link="right_eskin_04-1axis-12"/>
            <axis xyz="0.0 0.0 1.0"/>
            <limit lower="-6.28318530718" upper="6.28318530718" effort="56.0" velocity="1.5708"/>
    </joint>

    <!--right arm 05-2lib-05 eskin model -->
    <link name="right_eskin_04-1axis-12">
        <visual>
            <origin xyz="0.0 0.0 0.0" rpy="0.0 0.0 0.0"/>
            <geometry>
                <mesh filename ="meshes/e_skin/04_meshs/04_lib_py.dae"/>
            </geometry>
            <material name = "LightGrey"/>
        </visual>
        <collision>
            <origin xyz="0.0 0.0 0.0" rpy="0.0 0.0 0.0"/>
        <geometry>
             <mesh filename ="meshes/e_skin/04_meshs/04_lib_py.stl"/>
        </geometry>
        </collision>
        <inertial>
            <origin xyz="0 0 0" rpy="0 0 0" />
            <mass value ="2.0"/>
            <inertia ixx="0.008093163" ixy="0.0" ixz="0.0" iyy="0.008093163" iyz="0.0" izz="0.005625"/>
        </inertial>
    </link>


    <!--right arm 04 eskin lib 13 joint-->
    <joint name="right_eskin_04axis_to_right_eskin_04-2axis-13" type="fixed">
            <origin xyz="0.05058 -0.04068 -0.01676" rpy="3.5325 0.0 0.0"/>
            <parent link="right_eskin_04axis"/>
            <child link="right_eskin_04-1axis-13"/>
            <axis xyz="0.0 0.0 1.0"/>
            <limit lower="-6.28318530718" upper="6.28318530718" effort="56.0" velocity="1.5708"/>
    </joint>

    <!--right arm 05-2lib-13 eskin model -->
    <link name="right_eskin_04-1axis-13">
        <visual>
            <origin xyz="0.0 0.0 0.0" rpy="0.0 0.0 0.0"/>
            <geometry>
                <mesh filename ="meshes/e_skin/04_meshs/04_lib_py.dae"/>
            </geometry>
            <material name = "LightGrey"/>
        </visual>
        <collision>
            <origin xyz="0.0 0.0 0.0" rpy="0.0 0.0 0.0"/>
        <geometry>
             <mesh filename ="meshes/e_skin/04_meshs/04_lib_py.stl"/>
        </geometry>
        </collision>
        <inertial>
            <origin xyz="0 0 0" rpy="0 0 0" />
            <mass value ="2.0"/>
            <inertia ixx="0.008093163" ixy="0.0" ixz="0.0" iyy="0.008093163" iyz="0.0" izz="0.005625"/>
        </inertial>
    </link>


     <!--right arm 04 eskin lib 14 joint-->
    <joint name="right_eskin_04axis_to_right_eskin_04-2axis-14" type="fixed">
            <origin xyz="0.05058 -0.016927 -0.040613" rpy=" 4.3175 0.0 0.0"/>
            <parent link="right_eskin_04axis"/>
            <child link="right_eskin_04-1axis-14"/>
            <axis xyz="0.0 0.0 1.0"/>
            <limit lower="-6.28318530718" upper="6.28318530718" effort="56.0" velocity="1.5708"/>
    </joint>

    <!--right arm 05-2lib-14 eskin model -->
    <link name="right_eskin_04-1axis-14">
        <visual>
            <origin xyz="0.0 0.0 0.0" rpy="0.0 0.0 0.0"/>
            <geometry>
                <mesh filename ="meshes/e_skin/04_meshs/04_lib_py.dae"/>
            </geometry>
            <material name = "LightGrey"/>
        </visual>
        <collision>
            <origin xyz="0.0 0.0 0.0" rpy="0.0 0.0 0.0"/>
        <geometry>
             <mesh filename ="meshes/e_skin/04_meshs/04_lib_py.stl"/>
        </geometry>
        </collision>
        <inertial>
            <origin xyz="0 0 0" rpy="0 0 0" />
            <mass value ="2.0"/>
            <inertia ixx="0.008093163" ixy="0.0" ixz="0.0" iyy="0.008093163" iyz="0.0" izz="0.005625"/>
        </inertial>
    </link>


    <!--right arm 04 eskin lib 15 joint-->
    <joint name="right_eskin_04axis_to_right_eskin_04-2axis-15" type="fixed">
            <origin xyz="0.05058 0.0167328  -0.04069" rpy=" 5.1025 0.0 0.0"/>
            <parent link="right_eskin_04axis"/>
            <child link="right_eskin_04-1axis-15"/>
            <axis xyz="0.0 0.0 1.0"/>
            <limit lower="-6.28318530718" upper="6.28318530718" effort="56.0" velocity="1.5708"/>
    </joint>

    <!--right arm 05-2lib-15 eskin model -->
    <link name="right_eskin_04-1axis-15">
        <visual>
            <origin xyz="0.0 0.0 0.0" rpy="0.0 0.0 0.0"/>
            <geometry>
                <mesh filename ="meshes/e_skin/04_meshs/04_lib_py.dae"/>
            </geometry>
            <material name = "LightGrey"/>
        </visual>
        <collision>
            <origin xyz="0.0 0.0 0.0" rpy="0.0 0.0 0.0"/>
        <geometry>
             <mesh filename ="meshes/e_skin/04_meshs/04_lib_py.stl"/>
        </geometry>
        </collision>
        <inertial>
            <origin xyz="0 0 0" rpy="0 0 0" />
            <mass value ="2.0"/>
            <inertia ixx="0.008093163" ixy="0.0" ixz="0.0" iyy="0.008093163" iyz="0.0" izz="0.005625"/>
        </inertial>
    </link>

    <!--right arm 04 eskin lib 16 joint-->
    <joint name="right_eskin_04axis_to_right_eskin_04-2axis-16" type="fixed">
            <origin xyz="0.05058 0.0406 -0.0169" rpy=" 5.8875 0.0 0.0"/>
            <parent link="right_eskin_04axis"/>
            <child link="right_eskin_04-1axis-16"/>
            <axis xyz="0.0 0.0 1.0"/>
            <limit lower="-6.28318530718" upper="6.28318530718" effort="56.0" velocity="1.5708"/>
    </joint>

    <!--right arm 05-2lib-16 eskin model -->
    <link name="right_eskin_04-1axis-16">
        <visual>
            <origin xyz="0.0 0.0 0.0" rpy="0.0 0.0 0.0"/>
            <geometry>
                <mesh filename ="meshes/e_skin/04_meshs/04_lib_py.dae"/>
            </geometry>
            <material name = "LightGrey"/>
        </visual>
        <collision>
            <origin xyz="0.0 0.0 0.0" rpy="0.0 0.0 0.0"/>
        <geometry>
             <mesh filename ="meshes/e_skin/04_meshs/04_lib_py.stl"/>
        </geometry>
        </collision>
        <inertial>
            <origin xyz="0 0 0" rpy="0 0 0" />
            <mass value ="2.0"/>
            <inertia ixx="0.008093163" ixy="0.0" ixz="0.0" iyy="0.008093163" iyz="0.0" izz="0.005625"/>
        </inertial>
    </link>

    <!-- right_arm  04 eskin third  culon -->

    <!--right arm 04 eskin lib 17 joint-->
    <joint name="right_eskin_04axis_to_right_eskin_04-1axis-17" type="fixed">
            <origin xyz="0.07937 0.044 0.0" rpy="0.0 0.0 0.0"/>
            <parent link="right_eskin_04axis"/>
            <child link="right_eskin_04-1axis-17"/>
            <axis xyz="0.0 0.0 1.0"/>
            <limit lower="-6.28318530718" upper="6.28318530718" effort="56.0" velocity="1.5708"/>
    </joint>

    <!--right arm 05-2lib-17 eskin model -->
    <link name="right_eskin_04-1axis-17">
        <visual>
            <origin xyz="0.0 0.0 0.0" rpy="0.0 0.0 0.0"/>
            <geometry>
                <mesh filename ="meshes/e_skin/04_meshs/04_lib_py.dae"/>
            </geometry>
            <material name = "LightGrey"/>
        </visual>
        <collision>
            <origin xyz="0.0 0.0 0.0" rpy="0.0 0.0 0.0"/>
        <geometry>
             <mesh filename ="meshes/e_skin/04_meshs/04_lib_py.stl"/>
        </geometry>
        </collision>
        <inertial>
            <origin xyz="0 0 0" rpy="0 0 0" />
            <mass value ="2.0"/>
            <inertia ixx="0.008093163" ixy="0.0" ixz="0.0" iyy="0.008093163" iyz="0.0" izz="0.005625"/>
        </inertial>
    </link>


     <!--right arm 04 eskin lib 18 joint-->
    <joint name="right_eskin_04axis_to_right_eskin_04-2axis-18" type="fixed">
            <origin xyz="0.07937 0.031125 0.0311" rpy="0.706825 0.0 0.0"/>
            <parent link="right_eskin_04axis"/>
            <child link="right_eskin_04-1axis-18"/>
            <axis xyz="0.0 0.0 1.0"/>
            <limit lower="-6.28318530718" upper="6.28318530718" effort="56.0" velocity="1.5708"/>
    </joint>

    <!--right arm 05-2lib-18 eskin model -->
    <link name="right_eskin_04-1axis-18">
        <visual>
            <origin xyz="0.0 0.0 0.0" rpy="0.0 0.0 0.0"/>
            <geometry>
                <mesh filename ="meshes/e_skin/04_meshs/04_lib_py.dae"/>
            </geometry>
            <material name = "LightGrey"/>
        </visual>
        <collision>
            <origin xyz="0.0 0.0 0.0" rpy="0.0 0.0 0.0"/>
        <geometry>
             <mesh filename ="meshes/e_skin/04_meshs/04_lib_py.stl"/>
        </geometry>
        </collision>
        <inertial>
            <origin xyz="0 0 0" rpy="0 0 0" />
            <mass value ="2.0"/>
            <inertia ixx="0.008093163" ixy="0.0" ixz="0.0" iyy="0.008093163" iyz="0.0" izz="0.005625"/>
        </inertial>
    </link>

     <!--right arm 04 eskin lib 19 joint-->
    <joint name="right_eskin_04axis_to_right_eskin_04-2axis-19" type="fixed">
            <origin xyz="0.07937 0.0 0.0439" rpy="1.57 0.0 0.0"/>
            <parent link="right_eskin_04axis"/>
            <child link="right_eskin_04-1axis-19"/>
            <axis xyz="0.0 0.0 1.0"/>
            <limit lower="-6.28318530718" upper="6.28318530718" effort="56.0" velocity="1.5708"/>
    </joint>

    <!--right arm 05-2lib-19 eskin model -->
    <link name="right_eskin_04-1axis-19">
        <visual>
            <origin xyz="0.0 0.0 0.0" rpy="0.0 0.0 0.0"/>
            <geometry>
                <mesh filename ="meshes/e_skin/04_meshs/04_lib_py.dae"/>
            </geometry>
            <material name = "LightGrey"/>
        </visual>
        <collision>
            <origin xyz="0.0 0.0 0.0" rpy="0.0 0.0 0.0"/>
        <geometry>
             <mesh filename ="meshes/e_skin/04_meshs/04_lib_py.stl"/>
        </geometry>
        </collision>
        <inertial>
            <origin xyz="0 0 0" rpy="0 0 0" />
            <mass value ="2.0"/>
            <inertia ixx="0.008093163" ixy="0.0" ixz="0.0" iyy="0.008093163" iyz="0.0" izz="0.005625"/>
        </inertial>
    </link>

    <!--right arm 04 eskin lib 20 joint-->
    <joint name="right_eskin_04axis_to_right_eskin_04-2axis-20" type="fixed">
            <origin xyz="0.07937 -0.031075 0.0311498" rpy="2.355 0.0 0.0"/>
            <parent link="right_eskin_04axis"/>
            <child link="right_eskin_04-1axis-20"/>
            <axis xyz="0.0 0.0 1.0"/>
            <limit lower="-6.28318530718" upper="6.28318530718" effort="56.0" velocity="1.5708"/>
    </joint>

    <!--right arm 05-2lib-05 eskin model -->
    <link name="right_eskin_04-1axis-20">
        <visual>
            <origin xyz="0.0 0.0 0.0" rpy="0.0 0.0 0.0"/>
            <geometry>
                <mesh filename ="meshes/e_skin/04_meshs/04_lib_py.dae"/>
            </geometry>
            <material name = "LightGrey"/>
        </visual>
        <collision>
            <origin xyz="0.0 0.0 0.0" rpy="0.0 0.0 0.0"/>
        <geometry>
             <mesh filename ="meshes/e_skin/04_meshs/04_lib_py.stl"/>
        </geometry>
        </collision>
        <inertial>
            <origin xyz="0 0 0" rpy="0 0 0" />
            <mass value ="2.0"/>
            <inertia ixx="0.008093163" ixy="0.0" ixz="0.0" iyy="0.008093163" iyz="0.0" izz="0.005625"/>
        </inertial>
    </link>

    <!--right arm 04 eskin lib 21 joint-->
    <joint name="right_eskin_04axis_to_right_eskin_04-2axis-21" type="fixed">
            <origin xyz="0.07937 -0.044 0.0" rpy="3.14 0.0 0.0"/>
            <parent link="right_eskin_04axis"/>
            <child link="right_eskin_04-1axis-21"/>
            <axis xyz="0.0 0.0 1.0"/>
            <limit lower="-6.28318530718" upper="6.28318530718" effort="56.0" velocity="1.5708"/>
    </joint>

    <!--right arm 04 lib-21 eskin model -->
    <link name="right_eskin_04-1axis-21">
        <visual>
            <origin xyz="0.0 0.0 0.0" rpy="0.0 0.0 0.0"/>
            <geometry>
                <mesh filename ="meshes/e_skin/04_meshs/04_lib_py.dae"/>
            </geometry>
            <material name = "LightGrey"/>
        </visual>
        <collision>
            <origin xyz="0.0 0.0 0.0" rpy="0.0 0.0 0.0"/>
        <geometry>
             <mesh filename ="meshes/e_skin/04_meshs/04_lib_py.stl"/>
        </geometry>
        </collision>
        <inertial>
            <origin xyz="0 0 0" rpy="0 0 0" />
            <mass value ="2.0"/>
            <inertia ixx="0.008093163" ixy="0.0" ixz="0.0" iyy="0.008093163" iyz="0.0" izz="0.005625"/>
        </inertial>
    </link>


     <!--right arm 04 eskin lib 22 joint-->
    <joint name="right_eskin_04axis_to_right_eskin_04-2axis-22" type="fixed">
            <origin xyz="0.07937 -0.03117 -0.03105" rpy=" 3.925 0.0 0.0"/>
            <parent link="right_eskin_04axis"/>
            <child link="right_eskin_04-1axis-22"/>
            <axis xyz="0.0 0.0 1.0"/>
            <limit lower="-6.28318530718" upper="6.28318530718" effort="56.0" velocity="1.5708"/>
    </joint>

    <!--right arm 05-2lib-22 eskin model -->
    <link name="right_eskin_04-1axis-22">
        <visual>
            <origin xyz="0.0 0.0 0.0" rpy="0.0 0.0 0.0"/>
            <geometry>
                <mesh filename ="meshes/e_skin/04_meshs/04_lib_py.dae"/>
            </geometry>
            <material name = "LightGrey"/>
        </visual>
        <collision>
            <origin xyz="0.0 0.0 0.0" rpy="0.0 0.0 0.0"/>
        <geometry>
             <mesh filename ="meshes/e_skin/04_meshs/04_lib_py.stl"/>
        </geometry>
        </collision>
        <inertial>
            <origin xyz="0 0 0" rpy="0 0 0" />
            <mass value ="2.0"/>
            <inertia ixx="0.008093163" ixy="0.0" ixz="0.0" iyy="0.008093163" iyz="0.0" izz="0.005625"/>
        </inertial>
    </link>


    <!--right arm 04 eskin lib 23 joint-->
    <joint name="right_eskin_04axis_to_right_eskin_04-2axis-23" type="fixed">
            <origin xyz="0.07937 -0.0 -0.044" rpy=" 4.71 0.0 0.0"/>
            <parent link="right_eskin_04axis"/>
            <child link="right_eskin_04-1axis-23"/>
            <axis xyz="0.0 0.0 1.0"/>
            <limit lower="-6.28318530718" upper="6.28318530718" effort="56.0" velocity="1.5708"/>
    </joint>

    <!--right arm 05-2lib-23 eskin model -->
    <link name="right_eskin_04-1axis-23">
        <visual>
            <origin xyz="0.0 0.0 0.0" rpy="0.0 0.0 0.0"/>
            <geometry>
                <mesh filename ="meshes/e_skin/04_meshs/04_lib_py.dae"/>
            </geometry>
            <material name = "LightGrey"/>
        </visual>
        <collision>
            <origin xyz="0.0 0.0 0.0" rpy="0.0 0.0 0.0"/>
        <geometry>
             <mesh filename ="meshes/e_skin/04_meshs/04_lib_py.stl"/>
        </geometry>
        </collision>
        <inertial>
            <origin xyz="0 0 0" rpy="0 0 0" />
            <mass value ="2.0"/>
            <inertia ixx="0.008093163" ixy="0.0" ixz="0.0" iyy="0.008093163" iyz="0.0" izz="0.005625"/>
        </inertial>
    </link>

    <!--right arm 04 eskin lib 24 joint-->
    <joint name="right_eskin_04axis_to_right_eskin_04-2axis-24" type="fixed">
            <origin xyz="0.07937 0.031025 -0.031199" rpy=" 5.495 0.0 0.0"/>
            <parent link="right_eskin_04axis"/>
            <child link="right_eskin_04-1axis-24"/>
            <axis xyz="0.0 0.0 1.0"/>
            <limit lower="-6.28318530718" upper="6.28318530718" effort="56.0" velocity="1.5708"/>
    </joint>

    <!--right arm 05-2lib-24 eskin model -->
    <link name="right_eskin_04-1axis-24">
        <visual>
            <origin xyz="0.0 0.0 0.0" rpy="0.0 0.0 0.0"/>
            <geometry>
                <mesh filename ="meshes/e_skin/04_meshs/04_lib_py.dae"/>
            </geometry>
            <material name = "LightGrey"/>
        </visual>
        <collision>
            <origin xyz="0.0 0.0 0.0" rpy="0.0 0.0 0.0"/>
        <geometry>
             <mesh filename ="meshes/e_skin/04_meshs/04_lib_py.stl"/>
        </geometry>
        </collision>
        <inertial>
            <origin xyz="0 0 0" rpy="0 0 0" />
            <mass value ="2.0"/>
            <inertia ixx="0.008093163" ixy="0.0" ixz="0.0" iyy="0.008093163" iyz="0.0" izz="0.005625"/>
        </inertial>
    </link>




    <!--right arm 03 eskin joint-->
     <joint name="right_upper_arm_link_to_right_eskin_03axis" type="fixed">
            <origin xyz="-0.2435 0.0 0.0796" rpy="0.0 0.0 0.0"/>
            <parent link="right_upper_arm_link"/>
            <child link="right_eskin_03axis"/>
            <axis xyz="0.0 0.0 1.0"/>
            <limit lower="-6.28318530718" upper="6.28318530718" effort="56.0" velocity="1.5708"/>
    </joint>

    <!--right arm 03 eskin model -->
    <link name="right_eskin_03axis">
        <visual>
            <origin xyz="0.0 0.0 0.0" rpy="0.0 0.0 0.0"/>
            <geometry>
                <mesh filename ="meshes/e_skin/03_meshs/03_axis_py.dae"/>
            </geometry>
            <material name = "LightGrey"/>
        </visual>
        <collision>
            <origin xyz="0.0 0.0 0.0" rpy="0.0 0.0 0.0"/>
        <geometry>
             <mesh filename ="meshes/e_skin/03_meshs/03_axis_py.stl"/>
        </geometry>
        </collision>
        <inertial>
            <origin xyz="0 0 0" rpy="0 0 0" />
            <mass value ="2.0"/>
            <inertia ixx="0.008093163" ixy="0.0" ixz="0.0" iyy="0.008093163" iyz="0.0" izz="0.005625"/>
        </inertial>
    </link>

      <!-- right_arm  03 eskin first  culon -->

  <!--right arm 03 eskin lib 01 joint-->
    <joint name="right_eskin_03axis_to_right_eskin_03-axis-01" type="fixed">
            <origin xyz="0.00877 0.05024 0.023" rpy=" 0.0 0.0 -0.17444444"/>
            <parent link="right_eskin_03axis"/>
            <child link="right_eskin_03-axis-01"/>
            <axis xyz="0.0 0.0 1.0"/>
            <limit lower="-6.28318530718" upper="6.28318530718" effort="56.0" velocity="1.5708"/>
    </joint>

    <!--right arm 03 lib-01 eskin model -->
    <link name="right_eskin_03-axis-01">
        <visual>
            <origin xyz="0.0 0.0 0.0" rpy="0.0 0.0 0.0"/>
            <geometry>
                <mesh filename ="meshes/e_skin/03_meshs/03_lib_py.dae"/>
            </geometry>
            <material name = "LightGrey"/>
        </visual>
        <collision>
            <origin xyz="0.0 0.0 0.0" rpy="0.0 0.0 0.0"/>
        <geometry>
             <mesh filename ="meshes/e_skin/03_meshs/03_lib_py.stl"/>
        </geometry>
        </collision>
        <inertial>
            <origin xyz="0 0 0" rpy="0 0 0" />
            <mass value ="2.0"/>
            <inertia ixx="0.008093163" ixy="0.0" ixz="0.0" iyy="0.008093163" iyz="0.0" izz="0.005625"/>
        </inertial>
    </link>

      <!--right arm 03 eskin lib 02 joint-->
    <joint name="right_eskin_03axis_to_right_eskin_03-axis-02" type="fixed">
            <origin xyz="-0.03283 0.039027 0.023" rpy=" 0.0 0.0 0.69777"/>
            <parent link="right_eskin_03axis"/>
            <child link="right_eskin_03-axis-02"/>
            <axis xyz="0.0 0.0 1.0"/>
            <limit lower="-6.28318530718" upper="6.28318530718" effort="56.0" velocity="1.5708"/>
    </joint>

    <!--right arm 03 lib-02 eskin model -->
    <link name="right_eskin_03-axis-02">
        <visual>
            <origin xyz="0.0 0.0 0.0" rpy="0.0 0.0 0.0"/>
            <geometry>
                <mesh filename ="meshes/e_skin/03_meshs/03_lib_py.dae"/>
            </geometry>
            <material name = "LightGrey"/>
        </visual>
        <collision>
            <origin xyz="0.0 0.0 0.0" rpy="0.0 0.0 0.0"/>
        <geometry>
             <mesh filename ="meshes/e_skin/03_meshs/03_lib_py.stl"/>
        </geometry>
        </collision>
        <inertial>
            <origin xyz="0 0 0" rpy="0 0 0" />
            <mass value ="2.0"/>
            <inertia ixx="0.008093163" ixy="0.0" ixz="0.0" iyy="0.008093163" iyz="0.0" izz="0.005625"/>
        </inertial>
    </link>

    <!--right arm 03 eskin lib 03 joint-->
    <joint name="right_eskin_03axis_to_right_eskin_03-axis-03" type="fixed">
            <origin xyz="-0.051 0.0 0.023" rpy=" 0.0 0.0 1.5708"/>
            <parent link="right_eskin_03axis"/>
            <child link="right_eskin_03-axis-03"/>
            <axis xyz="0.0 0.0 1.0"/>
            <limit lower="-6.28318530718" upper="6.28318530718" effort="56.0" velocity="1.5708"/>
    </joint>

    <!--right arm 03 lib-03 eskin model -->
    <link name="right_eskin_03-axis-03">
        <visual>
            <origin xyz="0.0 0.0 0.0" rpy="0.0 0.0 0.0"/>
            <geometry>
                <mesh filename ="meshes/e_skin/03_meshs/03_lib_py.dae"/>
            </geometry>
            <material name = "LightGrey"/>
        </visual>
        <collision>
            <origin xyz="0.0 0.0 0.0" rpy="0.0 0.0 0.0"/>
        <geometry>
             <mesh filename ="meshes/e_skin/03_meshs/03_lib_py.stl"/>
        </geometry>
        </collision>
        <inertial>
            <origin xyz="0 0 0" rpy="0 0 0" />
            <mass value ="2.0"/>
            <inertia ixx="0.008093163" ixy="0.0" ixz="0.0" iyy="0.008093163" iyz="0.0" izz="0.005625"/>
        </inertial>
    </link>

    <!--right arm 03 eskin lib 04 joint-->
    <joint name="right_eskin_03axis_to_right_eskin_03-axis-04" type="fixed">
            <origin xyz="-0.03276 -0.0394 0.023" rpy=" 0.0 0.0 2.4422"/>
            <parent link="right_eskin_03axis"/>
            <child link="right_eskin_03-axis-04"/>
            <axis xyz="0.0 0.0 1.0"/>
            <limit lower="-6.28318530718" upper="6.28318530718" effort="56.0" velocity="1.5708"/>
    </joint>

    <!--right arm 03 lib-04 eskin model -->
    <link name="right_eskin_03-axis-04">
        <visual>
            <origin xyz="0.0 0.0 0.0" rpy="0.0 0.0 0.0"/>
            <geometry>
                <mesh filename ="meshes/e_skin/03_meshs/03_lib_py.dae"/>
            </geometry>
            <material name = "LightGrey"/>
        </visual>
        <collision>
            <origin xyz="0.0 0.0 0.0" rpy="0.0 0.0 0.0"/>
        <geometry>
             <mesh filename ="meshes/e_skin/03_meshs/03_lib_py.stl"/>
        </geometry>
        </collision>
        <inertial>
            <origin xyz="0 0 0" rpy="0 0 0" />
            <mass value ="2.0"/>
            <inertia ixx="0.008093163" ixy="0.0" ixz="0.0" iyy="0.008093163" iyz="0.0" izz="0.005625"/>
        </inertial>
    </link>

     <!--right arm 03 eskin lib 05 joint-->
    <joint name="right_eskin_03axis_to_right_eskin_03-axis-05" type="fixed">
            <origin xyz="0.00885 -0.0502 0.023" rpy=" 0.0 0.0 3.314"/>
            <parent link="right_eskin_03axis"/>
            <child link="right_eskin_03-axis-05"/>
            <axis xyz="0.0 0.0 1.0"/>
            <limit lower="-6.28318530718" upper="6.28318530718" effort="56.0" velocity="1.5708"/>
    </joint>

    <!--right arm 03 lib-05 eskin model -->
    <link name="right_eskin_03-axis-05">
        <visual>
            <origin xyz="0.0 0.0 0.0" rpy="0.0 0.0 0.0"/>
            <geometry>
                <mesh filename ="meshes/e_skin/03_meshs/03_lib_py.dae"/>
            </geometry>
            <material name = "LightGrey"/>
        </visual>
        <collision>
            <origin xyz="0.0 0.0 0.0" rpy="0.0 0.0 0.0"/>
        <geometry>
             <mesh filename ="meshes/e_skin/03_meshs/03_lib_py.stl"/>
        </geometry>
        </collision>
        <inertial>
            <origin xyz="0 0 0" rpy="0 0 0" />
            <mass value ="2.0"/>
            <inertia ixx="0.008093163" ixy="0.0" ixz="0.0" iyy="0.008093163" iyz="0.0" izz="0.005625"/>
        </inertial>
    </link>

    <!-- right_arm  03 eskin second  culon -->


    <!--right arm 03 eskin lib 06 joint-->
    <joint name="right_eskin_03axis_to_right_eskin_03-axis-06" type="fixed">
            <origin xyz="-0.011 -0.04979 0.0575" rpy=" 0.0 0.0 2.8347"/>
            <parent link="right_eskin_03axis"/>
            <child link="right_eskin_03-axis-06"/>
            <axis xyz="0.0 0.0 1.0"/>
            <limit lower="-6.28318530718" upper="6.28318530718" effort="56.0" velocity="1.5708"/>
    </joint>

    <!--right arm 03 lib-06 eskin model -->
    <link name="right_eskin_03-axis-06">
        <visual>
            <origin xyz="0.0 0.0 0.0" rpy="0.0 0.0 0.0"/>
            <geometry>
                <mesh filename ="meshes/e_skin/03_meshs/03_lib_py.dae"/>
            </geometry>
            <material name = "LightGrey"/>
        </visual>
        <collision>
            <origin xyz="0.0 0.0 0.0" rpy="0.0 0.0 0.0"/>
        <geometry>
             <mesh filename ="meshes/e_skin/03_meshs/03_lib_py.stl"/>
        </geometry>
        </collision>
        <inertial>
            <origin xyz="0 0 0" rpy="0 0 0" />
            <mass value ="2.0"/>
            <inertia ixx="0.008093163" ixy="0.0" ixz="0.0" iyy="0.008093163" iyz="0.0" izz="0.005625"/>
        </inertial>
    </link>


     <!--right arm 03 eskin lib 07 joint-->
    <joint name="right_eskin_03axis_to_right_eskin_03-axis-07" type="fixed">
            <origin xyz="-0.0154 0.0486 0.0575" rpy=" 0.0 0.0 0.218"/>
            <parent link="right_eskin_03axis"/>
            <child link="right_eskin_03-axis-07"/>
            <axis xyz="0.0 0.0 1.0"/>
            <limit lower="-6.28318530718" upper="6.28318530718" effort="56.0" velocity="1.5708"/>
    </joint>

    <!--right arm 03 lib-07 eskin model -->
    <link name="right_eskin_03-axis-07">
        <visual>
            <origin xyz="0.0 0.0 0.0" rpy="0.0 0.0 0.0"/>
            <geometry>
                <mesh filename ="meshes/e_skin/03_meshs/03_lib_py.dae"/>
            </geometry>
            <material name = "LightGrey"/>
        </visual>
        <collision>
            <origin xyz="0.0 0.0 0.0" rpy="0.0 0.0 0.0"/>
        <geometry>
             <mesh filename ="meshes/e_skin/03_meshs/03_lib_py.stl"/>
        </geometry>
        </collision>
        <inertial>
            <origin xyz="0 0 0" rpy="0 0 0" />
            <mass value ="2.0"/>
            <inertia ixx="0.008093163" ixy="0.0" ixz="0.0" iyy="0.008093163" iyz="0.0" izz="0.005625"/>
        </inertial>
    </link>

    <!--right arm 03 eskin lib 08 joint-->
    <joint name="right_eskin_03axis_to_right_eskin_03-axis-08" type="fixed">
            <origin xyz="-0.0471 0.0194 0.0575" rpy=" 0.0 0.0 1.09"/>
            <parent link="right_eskin_03axis"/>
            <child link="right_eskin_03-axis-08"/>
            <axis xyz="0.0 0.0 1.0"/>
            <limit lower="-6.28318530718" upper="6.28318530718" effort="56.0" velocity="1.5708"/>
    </joint>

    <!--right arm 03 lib-08 eskin model -->
    <link name="right_eskin_03-axis-08">
        <visual>
            <origin xyz="0.0 0.0 0.0" rpy="0.0 0.0 0.0"/>
            <geometry>
                <mesh filename ="meshes/e_skin/03_meshs/03_lib_py.dae"/>
            </geometry>
            <material name = "LightGrey"/>
        </visual>
        <collision>
            <origin xyz="0.0 0.0 0.0" rpy="0.0 0.0 0.0"/>
        <geometry>
             <mesh filename ="meshes/e_skin/03_meshs/03_lib_py.stl"/>
        </geometry>
        </collision>
        <inertial>
            <origin xyz="0 0 0" rpy="0 0 0" />
            <mass value ="2.0"/>
            <inertia ixx="0.008093163" ixy="0.0" ixz="0.0" iyy="0.008093163" iyz="0.0" izz="0.005625"/>
        </inertial>
    </link>

    <!--right arm 03 eskin lib 09 joint-->
    <joint name="right_eskin_03axis_to_right_eskin_03-axis-09" type="fixed">
            <origin xyz="-0.0452 -0.02357 0.0575" rpy=" 0.0 0.0 1.9625"/>
            <parent link="right_eskin_03axis"/>
            <child link="right_eskin_03-axis-09"/>
            <axis xyz="0.0 0.0 1.0"/>
            <limit lower="-6.28318530718" upper="6.28318530718" effort="56.0" velocity="1.5708"/>
    </joint>

    <!--right arm 03 lib-09 eskin model -->
    <link name="right_eskin_03-axis-09">
        <visual>
            <origin xyz="0.0 0.0 0.0" rpy="0.0 0.0 0.0"/>
            <geometry>
                <mesh filename ="meshes/e_skin/03_meshs/03_lib_py.dae"/>
            </geometry>
            <material name = "LightGrey"/>
        </visual>
        <collision>
            <origin xyz="0.0 0.0 0.0" rpy="0.0 0.0 0.0"/>
        <geometry>
             <mesh filename ="meshes/e_skin/03_meshs/03_lib_py.stl"/>
        </geometry>
        </collision>
        <inertial>
            <origin xyz="0 0 0" rpy="0 0 0" />
            <mass value ="2.0"/>
            <inertia ixx="0.008093163" ixy="0.0" ixz="0.0" iyy="0.008093163" iyz="0.0" izz="0.005625"/>
        </inertial>
    </link>

    
    <!-- right_arm  03 eskin third  culon -->

     <!--right arm 03 eskin lib 10 joint-->
    <joint name="right_eskin_03axis_to_right_eskin_03-axis-10" type="fixed">
            <origin xyz="0.00877 0.05024 0.092" rpy=" 0.0 0.0 -0.17444444"/>
            <parent link="right_eskin_03axis"/>
            <child link="right_eskin_03-axis-10"/>
            <axis xyz="0.0 0.0 1.0"/>
            <limit lower="-6.28318530718" upper="6.28318530718" effort="56.0" velocity="1.5708"/>
    </joint>

    <!--right arm 03 lib-10 eskin model -->
    <link name="right_eskin_03-axis-10">
        <visual>
            <origin xyz="0.0 0.0 0.0" rpy="0.0 0.0 0.0"/>
            <geometry>
                <mesh filename ="meshes/e_skin/03_meshs/03_lib_py.dae"/>
            </geometry>
            <material name = "LightGrey"/>
        </visual>
        <collision>
            <origin xyz="0.0 0.0 0.0" rpy="0.0 0.0 0.0"/>
        <geometry>
             <mesh filename ="meshes/e_skin/03_meshs/03_lib_py.stl"/>
        </geometry>
        </collision>
        <inertial>
            <origin xyz="0 0 0" rpy="0 0 0" />
            <mass value ="2.0"/>
            <inertia ixx="0.008093163" ixy="0.0" ixz="0.0" iyy="0.008093163" iyz="0.0" izz="0.005625"/>
        </inertial>
    </link>

     <!--right arm 03 eskin lib 11 joint-->
    <joint name="right_eskin_03axis_to_right_eskin_03-axis-11" type="fixed">
            <origin xyz="-0.03283 0.039027 0.092" rpy=" 0.0 0.0 0.69777"/>
            <parent link="right_eskin_03axis"/>
            <child link="right_eskin_03-axis-11"/>
            <axis xyz="0.0 0.0 1.0"/>
            <limit lower="-6.28318530718" upper="6.28318530718" effort="56.0" velocity="1.5708"/>
    </joint>

    <!--right arm 03 lib-11 eskin model -->
    <link name="right_eskin_03-axis-11">
        <visual>
            <origin xyz="0.0 0.0 0.0" rpy="0.0 0.0 0.0"/>
            <geometry>
                <mesh filename ="meshes/e_skin/03_meshs/03_lib_py.dae"/>
            </geometry>
            <material name = "LightGrey"/>
        </visual>
        <collision>
            <origin xyz="0.0 0.0 0.0" rpy="0.0 0.0 0.0"/>
        <geometry>
             <mesh filename ="meshes/e_skin/03_meshs/03_lib_py.stl"/>
        </geometry>
        </collision>
        <inertial>
            <origin xyz="0 0 0" rpy="0 0 0" />
            <mass value ="2.0"/>
            <inertia ixx="0.008093163" ixy="0.0" ixz="0.0" iyy="0.008093163" iyz="0.0" izz="0.005625"/>
        </inertial>
    </link>

 <!--right arm 03 eskin lib 12  joint-->
    <joint name="right_eskin_03axis_to_right_eskin_03-axis-12" type="fixed">
            <origin xyz="-0.051 0.0 0.092" rpy=" 0.0 0.0 1.5708"/>
            <parent link="right_eskin_03axis"/>
            <child link="right_eskin_03-axis-12"/>
            <axis xyz="0.0 0.0 1.0"/>
            <limit lower="-6.28318530718" upper="6.28318530718" effort="56.0" velocity="1.5708"/>
    </joint>

    <!--right arm 03 lib-12 eskin model -->
    <link name="right_eskin_03-axis-12">
        <visual>
            <origin xyz="0.0 0.0 0.0" rpy="0.0 0.0 0.0"/>
            <geometry>
                <mesh filename ="meshes/e_skin/03_meshs/03_lib_py.dae"/>
            </geometry>
            <material name = "LightGrey"/>
        </visual>
        <collision>
            <origin xyz="0.0 0.0 0.0" rpy="0.0 0.0 0.0"/>
        <geometry>
             <mesh filename ="meshes/e_skin/03_meshs/03_lib_py.stl"/>
        </geometry>
        </collision>
        <inertial>
            <origin xyz="0 0 0" rpy="0 0 0" />
            <mass value ="2.0"/>
            <inertia ixx="0.008093163" ixy="0.0" ixz="0.0" iyy="0.008093163" iyz="0.0" izz="0.005625"/>
        </inertial>
    </link>

    <!--right arm 03 eskin lib 13 joint-->
    <joint name="right_eskin_03axis_to_right_eskin_03-axis-13" type="fixed">
            <origin xyz="-0.03276 -0.0394 0.092" rpy=" 0.0 0.0 2.4422"/>
            <parent link="right_eskin_03axis"/>
            <child link="right_eskin_03-axis-13"/>
            <axis xyz="0.0 0.0 1.0"/>
            <limit lower="-6.28318530718" upper="6.28318530718" effort="56.0" velocity="1.5708"/>
    </joint>

    <!--right arm 03 lib-13 eskin model -->
    <link name="right_eskin_03-axis-13">
        <visual>
            <origin xyz="0.0 0.0 0.0" rpy="0.0 0.0 0.0"/>
            <geometry>
                <mesh filename ="meshes/e_skin/03_meshs/03_lib_py.dae"/>
            </geometry>
            <material name = "LightGrey"/>
        </visual>
        <collision>
            <origin xyz="0.0 0.0 0.0" rpy="0.0 0.0 0.0"/>
        <geometry>
             <mesh filename ="meshes/e_skin/03_meshs/03_lib_py.stl"/>
        </geometry>
        </collision>
        <inertial>
            <origin xyz="0 0 0" rpy="0 0 0" />
            <mass value ="2.0"/>
            <inertia ixx="0.008093163" ixy="0.0" ixz="0.0" iyy="0.008093163" iyz="0.0" izz="0.005625"/>
        </inertial>
    </link>

     <!--right arm 14 eskin lib 14 joint-->
    <joint name="right_eskin_03axis_to_right_eskin_03-axis-14" type="fixed">
            <origin xyz="0.00885 -0.0502 0.092" rpy=" 0.0 0.0 3.314"/>
            <parent link="right_eskin_03axis"/>
            <child link="right_eskin_03-axis-14"/>
            <axis xyz="0.0 0.0 1.0"/>
            <limit lower="-6.28318530718" upper="6.28318530718" effort="56.0" velocity="1.5708"/>
    </joint>

    <!--right arm 03 lib-14 eskin model -->
    <link name="right_eskin_03-axis-14">
        <visual>
            <origin xyz="0.0 0.0 0.0" rpy="0.0 0.0 0.0"/>
            <geometry>
                <mesh filename ="meshes/e_skin/03_meshs/03_lib_py.dae"/>
            </geometry>
            <material name = "LightGrey"/>
        </visual>
        <collision>
            <origin xyz="0.0 0.0 0.0" rpy="0.0 0.0 0.0"/>
        <geometry>
             <mesh filename ="meshes/e_skin/03_meshs/03_lib_py.stl"/>
        </geometry>
        </collision>
        <inertial>
            <origin xyz="0 0 0" rpy="0 0 0" />
            <mass value ="2.0"/>
            <inertia ixx="0.008093163" ixy="0.0" ixz="0.0" iyy="0.008093163" iyz="0.0" izz="0.005625"/>
        </inertial>
    </link>


    <!-- right_arm  03 eskin flat  culon -->

    <!--right arm 03 eskin lib 15  joint-->
    <joint name="right_eskin_03axis_to_right_eskin_03-axis-15" type="fixed">
            <origin xyz="0.023 0.0 0.1246" rpy=" 0.0 0.0 0.0"/>
            <parent link="right_eskin_03axis"/>
            <child link="right_eskin_03-axis-15"/>
            <axis xyz="0.0 0.0 1.0"/>
            <limit lower="-6.28318530718" upper="6.28318530718" effort="56.0" velocity="1.5708"/>
    </joint>

    <!--right arm 03 lib-15 eskin model -->
    <link name="right_eskin_03-axis-15">
        <visual>
            <origin xyz="0.0 0.0 0.0" rpy="0.0 0.0 0.0"/>
            <geometry>
                <mesh filename ="meshes/e_skin/03_meshs/flat_py.dae"/>
            </geometry>
            <material name = "LightGrey"/>
        </visual>
        <collision>
            <origin xyz="0.0 0.0 0.0" rpy="0.0 0.0 0.0"/>
        <geometry>
             <mesh filename ="meshes/e_skin/03_meshs/flat_py.stl"/>
        </geometry>
        </collision>
        <inertial>
            <origin xyz="0 0 0" rpy="0 0 0" />
            <mass value ="2.0"/>
            <inertia ixx="0.008093163" ixy="0.0" ixz="0.0" iyy="0.008093163" iyz="0.0" izz="0.005625"/>
        </inertial>
    </link>

    <!--right arm 03 eskin lib 16 joint-->
    <joint name="right_eskin_03axis_to_right_eskin_03-axis-16" type="fixed">
            <origin xyz="-0.0199 0.015 0.1246" rpy=" 0.0 0.0 0.0"/>
            <parent link="right_eskin_03axis"/>
            <child link="right_eskin_03-axis-16"/>
            <axis xyz="0.0 0.0 1.0"/>
            <limit lower="-6.28318530718" upper="6.28318530718" effort="56.0" velocity="1.5708"/>
    </joint>

    <!--right arm 03 lib-16 eskin model -->
    <link name="right_eskin_03-axis-16">
        <visual>
            <origin xyz="0.0 0.0 0.0" rpy="0.0 0.0 0.0"/>
            <geometry>
                <mesh filename ="meshes/e_skin/03_meshs/flat_py.dae"/>
            </geometry>
            <material name = "LightGrey"/>
        </visual>
        <collision>
            <origin xyz="0.0 0.0 0.0" rpy="0.0 0.0 0.0"/>
        <geometry>
             <mesh filename ="meshes/e_skin/03_meshs/flat_py.stl"/>
        </geometry>
        </collision>
        <inertial>
            <origin xyz="0 0 0" rpy="0 0 0" />
            <mass value ="2.0"/>
            <inertia ixx="0.008093163" ixy="0.0" ixz="0.0" iyy="0.008093163" iyz="0.0" izz="0.005625"/>
        </inertial>
    </link>

    <!--right arm 03 eskin lib 17 joint-->
    <joint name="right_eskin_03axis_to_right_eskin_03-axis-17" type="fixed">
            <origin xyz="-0.0199 -0.015 0.1246" rpy=" 0.0 0.0 0.0"/>
            <parent link="right_eskin_03axis"/>
            <child link="right_eskin_03-axis-17"/>
            <axis xyz="0.0 0.0 1.0"/>
            <limit lower="-6.28318530718" upper="6.28318530718" effort="56.0" velocity="1.5708"/>
    </joint>

    <!--right arm 03 lib-17 eskin model -->
    <link name="right_eskin_03-axis-17">
        <visual>
            <origin xyz="0.0 0.0 0.0" rpy="0.0 0.0 0.0"/>
            <geometry>
                <mesh filename ="meshes/e_skin/03_meshs/flat_py.dae"/>
            </geometry>
            <material name = "LightGrey"/>
        </visual>
        <collision>
            <origin xyz="0.0 0.0 0.0" rpy="0.0 0.0 0.0"/>
        <geometry>
             <mesh filename ="meshes/e_skin/03_meshs/flat_py.stl"/>
        </geometry>
        </collision>
        <inertial>
            <origin xyz="0 0 0" rpy="0 0 0" />
            <mass value ="2.0"/>
            <inertia ixx="0.008093163" ixy="0.0" ixz="0.0" iyy="0.008093163" iyz="0.0" izz="0.005625"/>
        </inertial>
    </link>


    <!--right arm joint 3-->
    <joint name="right_forearm_link_to_right_upper_arm_link" type="revolute">
        <origin xyz="-0.24355 0.0 0.0" rpy="0.0 0.0 0.0"/>
        <parent link="right_upper_arm_link"/>
        <child link="right_forearm_link"/>
        <axis xyz="0.0 0.0 1"/>
        <limit lower="-6.28318530718" upper="6.28318530718" effort="28.0" velocity="1.5708"/>
    </joint>

    <!---->
    <link name="right_forearm_link">
        <inertial>
            <origin xyz="-0.121825 0.0 0.027" rpy=" 0.0  1.5708 0.0"/>
            <mass value  = "1.26"/>
            <inertia ixx="0.006544568" ixy="0.0" ixz="0.0" iyy="0.006544568" iyz="0.0" izz="0.000354375"/>
        </inertial>
        <visual >
            <origin xyz="0.0 0.0 0.0275" rpy="1.5708 0.0 -1.5708"/>
            <geometry>
                <mesh filename="meshes/forearm.dae"/>
            </geometry>
            <material  name ="LightGrey"/>
        </visual>
        <collision>
            <origin xyz="0.0 0.0 0.0275" rpy="1.5708 0.0 -1.5708"/>
            <geometry>
                <mesh filename="meshes/forearm.stl"/>
            </geometry>
        </collision>
    </link>

  

     <!--right arm 02 eskin joint-->
     <joint name="right_forearm_link_to_right_eskin_02axis" type="fixed">
            <origin xyz="-0.16183 0.0 0.027" rpy="0.0 0.0 0.0"/>
            <parent link="right_forearm_link"/>
            <child link="right_eskin_02axis"/>
            <axis xyz="0.0 0.0 1.0"/>
            <limit lower="-6.28318530718" upper="6.28318530718" effort="56.0" velocity="1.5708"/>
    </joint>

    <!--right arm 02 eskin model -->
    <link name="right_eskin_02axis">
        <visual>
            <origin xyz="-0.0 0.0 0.0" rpy="0.0 0.0 0.0"/>
            <geometry>
                <mesh filename ="meshes/e_skin/02_meshs/02_axis_py.dae"/>
            </geometry>
            <material name = "LightGrey"/>
        </visual>
        <collision>
            <origin xyz="0.0 0.0 0.0" rpy="0.0 0.0 0.0"/>
        <geometry>
             <mesh filename ="meshes/e_skin/02_meshs/02_axis_py.stl"/>
        </geometry>
        </collision>
        <inertial>
            <origin xyz="0 0 0" rpy="0 0 0" />
            <mass value ="2.0"/>
            <inertia ixx="0.008093163" ixy="0.0" ixz="0.0" iyy="0.008093163" iyz="0.0" izz="0.005625"/>
        </inertial>
    </link>


    <!-- right_arm  02 eskin first  culon -->

  <!--right arm 02 eskin lib 01 joint-->
    <joint name="right_eskin_02axis_to_right_eskin_02-axis-01" type="fixed">
            <origin xyz="0.022  0.0385 0.0" rpy=" 0.0 0.0 0.0"/>
            <parent link="right_eskin_02axis"/>
            <child link="_right_eskin_02-axis-01"/>
            <axis xyz="0.0 0.0 1.0"/>
            <limit lower="-6.28318530718" upper="6.28318530718" effort="56.0" velocity="1.5708"/>
    </joint>

    <!--right arm 03 lib-17 eskin model -->
    <link name="_right_eskin_02-axis-01">
        <visual>
            <origin xyz="0.0 0.0 0.0" rpy="0.0 0.0 0.0"/>
            <geometry>
                <mesh filename ="meshes/e_skin/02_meshs/02_lib_py.dae"/>
            </geometry>
            <material name = "LightGrey"/>
        </visual>
        <collision>
            <origin xyz="0.0 0.0 0.0" rpy="0.0 0.0 0.0"/>
        <geometry>
             <mesh filename ="meshes/e_skin/02_meshs/02_lib_py.stl"/>
        </geometry>
        </collision>
        <inertial>
            <origin xyz="0 0 0" rpy="0 0 0" />
            <mass value ="2.0"/>
            <inertia ixx="0.008093163" ixy="0.0" ixz="0.0" iyy="0.008093163" iyz="0.0" izz="0.005625"/>
        </inertial>
    </link>

    <!--right arm 02 eskin lib 02 joint-->
    <joint name="right_eskin_02axis_to_right_eskin_02-axis-02" type="fixed">
            <origin xyz="0.022  0.01911 0.03307" rpy=" 1.04719 0.0 0.0"/>
            <parent link="right_eskin_02axis"/>
            <child link="_right_eskin_02-axis-02"/>
            <axis xyz="0.0 0.0 1.0"/>
            <limit lower="-6.28318530718" upper="6.28318530718" effort="56.0" velocity="1.5708"/>
    </joint>

    <!--right arm 03 lib-17 eskin model -->
    <link name="_right_eskin_02-axis-02">
        <visual>
            <origin xyz="0.0 0.0 0.0" rpy="0.0 0.0 0.0"/>
            <geometry>
                <mesh filename ="meshes/e_skin/02_meshs/02_lib_py.dae"/>
            </geometry>
            <material name = "LightGrey"/>
        </visual>
        <collision>
            <origin xyz="0.0 0.0 0.0" rpy="0.0 0.0 0.0"/>
        <geometry>
             <mesh filename ="meshes/e_skin/02_meshs/02_lib_py.stl"/>
        </geometry>
        </collision>
        <inertial>
            <origin xyz="0 0 0" rpy="0 0 0" />
            <mass value ="2.0"/>
            <inertia ixx="0.008093163" ixy="0.0" ixz="0.0" iyy="0.008093163" iyz="0.0" izz="0.005625"/>
        </inertial>
    </link>

    <!--right arm 02 eskin lib 03 joint-->
    <joint name="right_eskin_02axis_to_right_eskin_02-axis-03" type="fixed">
            <origin xyz="0.022  -0.019064  0.03310" rpy=" 2.09439 0.0 0.0"/>
            <parent link="right_eskin_02axis"/>
            <child link="_right_eskin_02-axis-03"/>
            <axis xyz="0.0 0.0 1.0"/>
            <limit lower="-6.28318530718" upper="6.28318530718" effort="56.0" velocity="1.5708"/>
    </joint>

    <!--right arm 02 lib-03 eskin model -->
    <link name="_right_eskin_02-axis-03">
        <visual>
            <origin xyz="0.0 0.0 0.0" rpy="0.0 0.0 0.0"/>
            <geometry>
                <mesh filename ="meshes/e_skin/02_meshs/02_lib_py.dae"/>
            </geometry>
            <material name = "LightGrey"/>
        </visual>
        <collision>
            <origin xyz="0.0 0.0 0.0" rpy="0.0 0.0 0.0"/>
        <geometry>
             <mesh filename ="meshes/e_skin/02_meshs/02_lib_py.stl"/>
        </geometry>
        </collision>
        <inertial>
            <origin xyz="0 0 0" rpy="0 0 0" />
            <mass value ="2.0"/>
            <inertia ixx="0.008093163" ixy="0.0" ixz="0.0" iyy="0.008093163" iyz="0.0" izz="0.005625"/>
        </inertial>
    </link>


    <!--right arm 02 eskin lib 04 joint-->
    <joint name="right_eskin_02axis_to_right_eskin_02-axis-04" type="fixed">
            <origin xyz="0.022  -0.0385  0.0" rpy=" 3.14159 0.0 0.0"/>
            <parent link="right_eskin_02axis"/>
            <child link="_right_eskin_02-axis-04"/>
            <axis xyz="0.0 0.0 1.0"/>
            <limit lower="-6.28318530718" upper="6.28318530718" effort="56.0" velocity="1.5708"/>
    </joint>

    <!--right arm 02 lib-04 eskin model -->
    <link name="_right_eskin_02-axis-04">
        <visual>
            <origin xyz="0.0 0.0 0.0" rpy="0.0 0.0 0.0"/>
            <geometry>
                <mesh filename ="meshes/e_skin/02_meshs/02_lib_py.dae"/>
            </geometry>
            <material name = "LightGrey"/>
        </visual>
        <collision>
            <origin xyz="0.0 0.0 0.0" rpy="0.0 0.0 0.0"/>
        <geometry>
             <mesh filename ="meshes/e_skin/02_meshs/02_lib_py.stl"/>
        </geometry>
        </collision>
        <inertial>
            <origin xyz="0 0 0" rpy="0 0 0" />
            <mass value ="2.0"/>
            <inertia ixx="0.008093163" ixy="0.0" ixz="0.0" iyy="0.008093163" iyz="0.0" izz="0.005625"/>
        </inertial>
    </link>


     <!--right arm 02 eskin lib 05 joint-->
    <joint name="right_eskin_02axis_to_right_eskin_02-axis-05" type="fixed">
            <origin xyz="0.022  -0.01910  -0.033082" rpy=" 4.18878 0.0 0.0"/>
            <parent link="right_eskin_02axis"/>
            <child link="_right_eskin_02-axis-05"/>
            <axis xyz="0.0 0.0 1.0"/>
            <limit lower="-6.28318530718" upper="6.28318530718" effort="56.0" velocity="1.5708"/>
    </joint>

    <!--right arm 02 lib-05 eskin model -->
    <link name="_right_eskin_02-axis-05">
        <visual>
            <origin xyz="0.0 0.0 0.0" rpy="0.0 0.0 0.0"/>
            <geometry>
                <mesh filename ="meshes/e_skin/02_meshs/02_lib_py.dae"/>
            </geometry>
            <material name = "LightGrey"/>
        </visual>
        <collision>
            <origin xyz="0.0 0.0 0.0" rpy="0.0 0.0 0.0"/>
        <geometry>
             <mesh filename ="meshes/e_skin/02_meshs/02_lib_py.stl"/>
        </geometry>
        </collision>
        <inertial>
            <origin xyz="0 0 0" rpy="0 0 0" />
            <mass value ="2.0"/>
            <inertia ixx="0.008093163" ixy="0.0" ixz="0.0" iyy="0.008093163" iyz="0.0" izz="0.005625"/>
        </inertial>
    </link>

    <!--right arm 02 eskin lib 06 joint-->
    <joint name="right_eskin_02axis_to_right_eskin_02-axis-06" type="fixed">
            <origin xyz="0.022  0.0190998  -0.033082" rpy=" 5.23598 0.0 0.0"/>
            <parent link="right_eskin_02axis"/>
            <child link="_right_eskin_02-axis-06"/>
            <axis xyz="0.0 0.0 1.0"/>
            <limit lower="-6.28318530718" upper="6.28318530718" effort="56.0" velocity="1.5708"/>
    </joint>

    <!--right arm 02 lib-06 eskin model -->
    <link name="_right_eskin_02-axis-06">
        <visual>
            <origin xyz="0.0 0.0 0.0" rpy="0.0 0.0 0.0"/>
            <geometry>
                <mesh filename ="meshes/e_skin/02_meshs/02_lib_py.dae"/>
            </geometry>
            <material name = "LightGrey"/>
        </visual>
        <collision>
            <origin xyz="0.0 0.0 0.0" rpy="0.0 0.0 0.0"/>
        <geometry>
             <mesh filename ="meshes/e_skin/02_meshs/02_lib_py.stl"/>
        </geometry>
        </collision>
        <inertial>
            <origin xyz="0 0 0" rpy="0 0 0" />
            <mass value ="2.0"/>
            <inertia ixx="0.008093163" ixy="0.0" ixz="0.0" iyy="0.008093163" iyz="0.0" izz="0.005625"/>
        </inertial>
    </link>


    <!-- right_arm  02 eskin second  culon -->

  <!--right arm 02 eskin lib 07 joint-->
    <joint name="right_eskin_02axis_to_right_eskin_02-axis-07" type="fixed">
            <origin xyz="0.0525  0.03308 0.019099" rpy=" 0.523598 0.0 0.0"/>
            <parent link="right_eskin_02axis"/>
            <child link="_right_eskin_02-axis-07"/>
            <axis xyz="0.0 0.0 1.0"/>
            <limit lower="-6.28318530718" upper="6.28318530718" effort="56.0" velocity="1.5708"/>
    </joint>

    <!--right arm 03 lib-07 eskin model -->
    <link name="_right_eskin_02-axis-07">
        <visual>
            <origin xyz="0.0 0.0 0.0" rpy="0.0 0.0 0.0"/>
            <geometry>
                <mesh filename ="meshes/e_skin/02_meshs/02_lib_py.dae"/>
            </geometry>
            <material name = "LightGrey"/>
        </visual>
        <collision>
            <origin xyz="0.0 0.0 0.0" rpy="0.0 0.0 0.0"/>
        <geometry>
             <mesh filename ="meshes/e_skin/02_meshs/02_lib_py.stl"/>
        </geometry>
        </collision>
        <inertial>
            <origin xyz="0 0 0" rpy="0 0 0" />
            <mass value ="2.0"/>
            <inertia ixx="0.008093163" ixy="0.0" ixz="0.0" iyy="0.008093163" iyz="0.0" izz="0.005625"/>
        </inertial>
    </link>

    <!--right arm 02 eskin lib 08 joint-->
    <joint name="right_eskin_02axis_to_right_eskin_02-axis-08" type="fixed">
            <origin xyz="0.0525  0.0 0.0382" rpy="1.570795 0.0 0.0"/>
            <parent link="right_eskin_02axis"/>
            <child link="_right_eskin_02-axis-08"/>
            <axis xyz="0.0 0.0 1.0"/>
            <limit lower="-6.28318530718" upper="6.28318530718" effort="56.0" velocity="1.5708"/>
    </joint>

    <!--right arm 03 lib-08 eskin model -->
    <link name="_right_eskin_02-axis-08">
        <visual>
            <origin xyz="0.0 0.0 0.0" rpy="0.0 0.0 0.0"/>
            <geometry>
                <mesh filename ="meshes/e_skin/02_meshs/02_lib_py.dae"/>
            </geometry>
            <material name = "LightGrey"/>
        </visual>
        <collision>
            <origin xyz="0.0 0.0 0.0" rpy="0.0 0.0 0.0"/>
        <geometry>
             <mesh filename ="meshes/e_skin/02_meshs/02_lib_py.stl"/>
        </geometry>
        </collision>
        <inertial>
            <origin xyz="0 0 0" rpy="0 0 0" />
            <mass value ="2.0"/>
            <inertia ixx="0.008093163" ixy="0.0" ixz="0.0" iyy="0.008093163" iyz="0.0" izz="0.005625"/>
        </inertial>
    </link>

    <!--right arm 02 eskin lib 09 joint-->
    <joint name="right_eskin_02axis_to_right_eskin_02-axis-09" type="fixed">
            <origin xyz="0.0525  -0.033082  0.0191" rpy="2.61799 0.0 0.0"/>
            <parent link="right_eskin_02axis"/>
            <child link="_right_eskin_02-axis-09"/>
            <axis xyz="0.0 0.0 1.0"/>
            <limit lower="-6.28318530718" upper="6.28318530718" effort="56.0" velocity="1.5708"/>
    </joint>

    <!--right arm 02 lib-09 eskin model -->
    <link name="_right_eskin_02-axis-09">
        <visual>
            <origin xyz="0.0 0.0 0.0" rpy="0.0 0.0 0.0"/>
            <geometry>
                <mesh filename ="meshes/e_skin/02_meshs/02_lib_py.dae"/>
            </geometry>
            <material name = "LightGrey"/>
        </visual>
        <collision>
            <origin xyz="0.0 0.0 0.0" rpy="0.0 0.0 0.0"/>
        <geometry>
             <mesh filename ="meshes/e_skin/02_meshs/02_lib_py.stl"/>
        </geometry>
        </collision>
        <inertial>
            <origin xyz="0 0 0" rpy="0 0 0" />
            <mass value ="2.0"/>
            <inertia ixx="0.008093163" ixy="0.0" ixz="0.0" iyy="0.008093163" iyz="0.0" izz="0.005625"/>
        </inertial>
    </link>


    <!--right arm 02 eskin lib 10 joint-->
    <joint name="right_eskin_02axis_to_right_eskin_02-axis-10" type="fixed">
            <origin xyz="0.0525  -0.033082  -0.01909989" rpy=" 3.665188 0.0 0.0"/>
            <parent link="right_eskin_02axis"/>
            <child link="_right_eskin_02-axis-10"/>
            <axis xyz="0.0 0.0 1.0"/>
            <limit lower="-6.28318530718" upper="6.28318530718" effort="56.0" velocity="1.5708"/>
    </joint>

    <!--right arm 02 lib-04 eskin model -->
    <link name="_right_eskin_02-axis-10">
        <visual>
            <origin xyz="0.0 0.0 0.0" rpy="0.0 0.0 0.0"/>
            <geometry>
                <mesh filename ="meshes/e_skin/02_meshs/02_lib_py.dae"/>
            </geometry>
            <material name = "LightGrey"/>
        </visual>
        <collision>
            <origin xyz="0.0 0.0 0.0" rpy="0.0 0.0 0.0"/>
        <geometry>
             <mesh filename ="meshes/e_skin/02_meshs/02_lib_py.stl"/>
        </geometry>
        </collision>
        <inertial>
            <origin xyz="0 0 0" rpy="0 0 0" />
            <mass value ="2.0"/>
            <inertia ixx="0.008093163" ixy="0.0" ixz="0.0" iyy="0.008093163" iyz="0.0" izz="0.005625"/>
        </inertial>
    </link>

    <!--right arm 02 eskin lib 11 joint-->
    <joint name="right_eskin_02axis_to_right_eskin_02-axis-11" type="fixed">
            <origin xyz="0.0525  -0.0  -0.0382" rpy=" 4.712385 0.0 0.0"/>
            <parent link="right_eskin_02axis"/>
            <child link="_right_eskin_02-axis-11"/>
            <axis xyz="0.0 0.0 1.0"/>
            <limit lower="-6.28318530718" upper="6.28318530718" effort="56.0" velocity="1.5708"/>
    </joint>

    <!--right arm 02 lib-11 eskin model -->
    <link name="_right_eskin_02-axis-11">
        <visual>
            <origin xyz="0.0 0.0 0.0" rpy="0.0 0.0 0.0"/>
            <geometry>
                <mesh filename ="meshes/e_skin/02_meshs/02_lib_py.dae"/>
            </geometry>
            <material name = "LightGrey"/>
        </visual>
        <collision>
            <origin xyz="0.0 0.0 0.0" rpy="0.0 0.0 0.0"/>
        <geometry>
             <mesh filename ="meshes/e_skin/02_meshs/02_lib_py.stl"/>
        </geometry>
        </collision>
        <inertial>
            <origin xyz="0 0 0" rpy="0 0 0" />
            <mass value ="2.0"/>
            <inertia ixx="0.008093163" ixy="0.0" ixz="0.0" iyy="0.008093163" iyz="0.0" izz="0.005625"/>
        </inertial>
    </link>

    <!--right arm 02 eskin lib 12 joint-->
    <joint name="right_eskin_02axis_to_right_eskin_02-axis-12" type="fixed">
            <origin xyz="0.0525  0.033082  -0.0191" rpy=" 5.75958167 0.0 0.0"/>
            <parent link="right_eskin_02axis"/>
            <child link="_right_eskin_02-axis-12"/>
            <axis xyz="0.0 0.0 1.0"/>
            <limit lower="-6.28318530718" upper="6.28318530718" effort="56.0" velocity="1.5708"/>
    </joint>

    <!--right arm 02 lib-12 eskin model -->
    <link name="_right_eskin_02-axis-12">
        <visual>
            <origin xyz="0.0 0.0 0.0" rpy="0.0 0.0 0.0"/>
            <geometry>
                <mesh filename ="meshes/e_skin/02_meshs/02_lib_py.dae"/>
            </geometry>
            <material name = "LightGrey"/>
        </visual>
        <collision>
            <origin xyz="0.0 0.0 0.0" rpy="0.0 0.0 0.0"/>
        <geometry>
             <mesh filename ="meshes/e_skin/02_meshs/02_lib_py.stl"/>
        </geometry>
        </collision>
        <inertial>
            <origin xyz="0 0 0" rpy="0 0 0" />
            <mass value ="2.0"/>
            <inertia ixx="0.008093163" ixy="0.0" ixz="0.0" iyy="0.008093163" iyz="0.0" izz="0.005625"/>
        </inertial>
    </link>


    <!-- right_arm  02 eskin third  culon -->

  <!--right arm 02 eskin lib 13 joint-->
    <joint name="right_eskin_02axis_to_right_eskin_02-axis-13" type="fixed">
            <origin xyz="0.0825  0.0385 0.0" rpy=" 0.0 0.0 0.0"/>
            <parent link="right_eskin_02axis"/>
            <child link="_right_eskin_02-axis-13"/>
            <axis xyz="0.0 0.0 1.0"/>
            <limit lower="-6.28318530718" upper="6.28318530718" effort="56.0" velocity="1.5708"/>
    </joint>

    <!--right arm 02 lib-13 eskin model -->
    <link name="_right_eskin_02-axis-13">
        <visual>
            <origin xyz="0.0 0.0 0.0" rpy="0.0 0.0 0.0"/>
            <geometry>
                <mesh filename ="meshes/e_skin/02_meshs/02_lib_py.dae"/>
            </geometry>
            <material name = "LightGrey"/>
        </visual>
        <collision>
            <origin xyz="0.0 0.0 0.0" rpy="0.0 0.0 0.0"/>
        <geometry>
             <mesh filename ="meshes/e_skin/02_meshs/02_lib_py.stl"/>
        </geometry>
        </collision>
        <inertial>
            <origin xyz="0 0 0" rpy="0 0 0" />
            <mass value ="2.0"/>
            <inertia ixx="0.008093163" ixy="0.0" ixz="0.0" iyy="0.008093163" iyz="0.0" izz="0.005625"/>
        </inertial>
    </link>

    <!--right arm 02 eskin lib 14 joint-->
    <joint name="right_eskin_02axis_to_right_eskin_02-axis-14" type="fixed">
            <origin xyz="0.0825  0.01911 0.03307" rpy=" 1.04719 0.0 0.0"/>
            <parent link="right_eskin_02axis"/>
            <child link="_right_eskin_02-axis-14"/>
            <axis xyz="0.0 0.0 1.0"/>
            <limit lower="-6.28318530718" upper="6.28318530718" effort="56.0" velocity="1.5708"/>
    </joint>

    <!--right arm 03 lib-14 eskin model -->
    <link name="_right_eskin_02-axis-14">
        <visual>
            <origin xyz="0.0 0.0 0.0" rpy="0.0 0.0 0.0"/>
            <geometry>
                <mesh filename ="meshes/e_skin/02_meshs/02_lib_py.dae"/>
            </geometry>
            <material name = "LightGrey"/>
        </visual>
        <collision>
            <origin xyz="0.0 0.0 0.0" rpy="0.0 0.0 0.0"/>
        <geometry>
             <mesh filename ="meshes/e_skin/02_meshs/02_lib_py.stl"/>
        </geometry>
        </collision>
        <inertial>
            <origin xyz="0 0 0" rpy="0 0 0" />
            <mass value ="2.0"/>
            <inertia ixx="0.008093163" ixy="0.0" ixz="0.0" iyy="0.008093163" iyz="0.0" izz="0.005625"/>
        </inertial>
    </link>

    <!--right arm 02 eskin lib 15 joint-->
    <joint name="right_eskin_02axis_to_right_eskin_02-axis-15" type="fixed">
            <origin xyz="0.0825  -0.019064  0.03310" rpy=" 2.09439 0.0 0.0"/>
            <parent link="right_eskin_02axis"/>
            <child link="_right_eskin_02-axis-15"/>
            <axis xyz="0.0 0.0 1.0"/>
            <limit lower="-6.28318530718" upper="6.28318530718" effort="56.0" velocity="1.5708"/>
    </joint>

    <!--right arm 02 lib-15 eskin model -->
    <link name="_right_eskin_02-axis-15">
        <visual>
            <origin xyz="0.0 0.0 0.0" rpy="0.0 0.0 0.0"/>
            <geometry>
                <mesh filename ="meshes/e_skin/02_meshs/02_lib_py.dae"/>
            </geometry>
            <material name = "LightGrey"/>
        </visual>
        <collision>
            <origin xyz="0.0 0.0 0.0" rpy="0.0 0.0 0.0"/>
        <geometry>
             <mesh filename ="meshes/e_skin/02_meshs/02_lib_py.stl"/>
        </geometry>
        </collision>
        <inertial>
            <origin xyz="0 0 0" rpy="0 0 0" />
            <mass value ="2.0"/>
            <inertia ixx="0.008093163" ixy="0.0" ixz="0.0" iyy="0.008093163" iyz="0.0" izz="0.005625"/>
        </inertial>
    </link>


    <!--right arm 02 eskin lib 16 joint-->
    <joint name="right_eskin_02axis_to_right_eskin_02-axis-16" type="fixed">
            <origin xyz="0.0825  -0.0385  0.0" rpy=" 3.14159 0.0 0.0"/>
            <parent link="right_eskin_02axis"/>
            <child link="_right_eskin_02-axis-16"/>
            <axis xyz="0.0 0.0 1.0"/>
            <limit lower="-6.28318530718" upper="6.28318530718" effort="56.0" velocity="1.5708"/>
    </joint>

    <!--right arm 02 lib-16 eskin model -->
    <link name="_right_eskin_02-axis-16">
        <visual>
            <origin xyz="0.0 0.0 0.0" rpy="0.0 0.0 0.0"/>
            <geometry>
                <mesh filename ="meshes/e_skin/02_meshs/02_lib_py.dae"/>
            </geometry>
            <material name = "LightGrey"/>
        </visual>
        <collision>
            <origin xyz="0.0 0.0 0.0" rpy="0.0 0.0 0.0"/>
        <geometry>
             <mesh filename ="meshes/e_skin/02_meshs/02_lib_py.stl"/>
        </geometry>
        </collision>
        <inertial>
            <origin xyz="0 0 0" rpy="0 0 0" />
            <mass value ="2.0"/>
            <inertia ixx="0.008093163" ixy="0.0" ixz="0.0" iyy="0.008093163" iyz="0.0" izz="0.005625"/>
        </inertial>
    </link>


     <!--right arm 02 eskin lib 17 joint-->
    <joint name="right_eskin_02axis_to_right_eskin_02-axis-17" type="fixed">
            <origin xyz="0.0825  -0.01910  -0.033082" rpy=" 4.18878 0.0 0.0"/>
            <parent link="right_eskin_02axis"/>
            <child link="_right_eskin_02-axis-17"/>
            <axis xyz="0.0 0.0 1.0"/>
            <limit lower="-6.28318530718" upper="6.28318530718" effort="56.0" velocity="1.5708"/>
    </joint>

    <!--right arm 02 lib-17 eskin model -->
    <link name="_right_eskin_02-axis-17">
        <visual>
            <origin xyz="0.0 0.0 0.0" rpy="0.0 0.0 0.0"/>
            <geometry>
                <mesh filename ="meshes/e_skin/02_meshs/02_lib_py.dae"/>
            </geometry>
            <material name = "LightGrey"/>
        </visual>
        <collision>
            <origin xyz="0.0 0.0 0.0" rpy="0.0 0.0 0.0"/>
        <geometry>
             <mesh filename ="meshes/e_skin/02_meshs/02_lib_py.stl"/>
        </geometry>
        </collision>
        <inertial>
            <origin xyz="0 0 0" rpy="0 0 0" />
            <mass value ="2.0"/>
            <inertia ixx="0.008093163" ixy="0.0" ixz="0.0" iyy="0.008093163" iyz="0.0" izz="0.005625"/>
        </inertial>
    </link>

    <!--right arm 02 eskin lib 18 joint-->
    <joint name="right_eskin_02axis_to_right_eskin_02-axis-18" type="fixed">
            <origin xyz="0.0825  0.0190998  -0.033082" rpy=" 5.23598 0.0 0.0"/>
            <parent link="right_eskin_02axis"/>
            <child link="_right_eskin_02-axis-18"/>
            <axis xyz="0.0 0.0 1.0"/>
            <limit lower="-6.28318530718" upper="6.28318530718" effort="56.0" velocity="1.5708"/>
    </joint>

    <!--right arm 02 lib-18 eskin model -->
    <link name="_right_eskin_02-axis-18">
        <visual>
            <origin xyz="0.0 0.0 0.0" rpy="0.0 0.0 0.0"/>
            <geometry>
                <mesh filename ="meshes/e_skin/02_meshs/02_lib_py.dae"/>
            </geometry>
            <material name = "LightGrey"/>
        </visual>
        <collision>
            <origin xyz="0.0 0.0 0.0" rpy="0.0 0.0 0.0"/>
        <geometry>
             <mesh filename ="meshes/e_skin/02_meshs/02_lib_py.stl"/>
        </geometry>
        </collision>
        <inertial>
            <origin xyz="0 0 0" rpy="0 0 0" />
            <mass value ="2.0"/>
            <inertia ixx="0.008093163" ixy="0.0" ixz="0.0" iyy="0.008093163" iyz="0.0" izz="0.005625"/>
        </inertial>
    </link>



  <!--sensor1 joint -->
    <joint name="right_forearm_link_to_right_eskin_01-3axis" type="fixed">
        <origin xyz="-0.21325 0.0 0.072" rpy="3.14159 0.0 3.14159"/>
        <parent link="right_forearm_link"/>
        <child link="right_eskin_01-3axis"/>
        <axis xyz="0.0 0.0 1"/>
    </joint>

    <link name="right_eskin_01-3axis">
        <inertial>
            <origin xyz=" 0.0 0.0  0.0" rpy="0.0 0.0 0.0"/>
            <mass value  ="0.0"/>
            <inertia ixx="0.002084999" ixy="0.0" ixz="0.0" iyy="0.002084999" iyz="0.0" izz="0.00225"/>
        </inertial>
        <visual>
            <origin xyz=" 0.0 0.0 -0.0" rpy="0.0 0.0 0.0"/>
            <geometry>
            <mesh filename="meshes/e_skin/01_meshs/01_axis_py.dae"/>
            </geometry>
            <material  name ="LightGrey"/>
        </visual>
        <collision>
            <origin xyz=" 0.0 0.0 -0.00" rpy="0.0 0.0 0.0"/>
            <geometry>
                <mesh filename="meshes/e_skin/01_meshs/01_axis_py.dae"/>
            </geometry>
        </collision>
    </link>


    <!-- right_arm  01-3  eskin first  culon -->

    <!--right arm 01 eskin right_eskin_01-3lib-06-->
    <joint name="right_eskin_01-3axis_to_right_eskin_01-3lib-06" type="fixed">
            <origin xyz="0.005687  -0.043197  0.028" rpy=" 0.0 0.0 -1.43989542"/>
            <parent link="right_eskin_01-3axis"/>
            <child link="right_eskin_01-3lib-06"/>
            <axis xyz="0.0 0.0 1.0"/>
            <limit lower="-6.28318530718" upper="6.28318530718" effort="56.0" velocity="1.5708"/>
    </joint>

    <!--right arm right_eskin_01-3lib-06 -->
    <link name="right_eskin_01-3lib-06">
        <visual>
            <origin xyz="0.0 0.0 0.0" rpy="0.0 0.0 0.0"/>
            <geometry>
                <mesh filename ="meshes/e_skin/01_meshs/01_lib_py.dae"/>
            </geometry>
            <material name = "LightGrey"/>
        </visual>
        <collision>
            <origin xyz="0.0 0.0 0.0" rpy="0.0 0.0 0.0"/>
        <geometry>
             <mesh filename ="meshes/e_skin/01_meshs/01_lib_py.stl"/>
        </geometry>
        </collision>
        <inertial>
            <origin xyz="0 0 0" rpy="0 0 0" />
            <mass value ="2.0"/>
            <inertia ixx="0.008093163" ixy="0.0" ixz="0.0" iyy="0.008093163" iyz="0.0" izz="0.005625"/>
        </inertial>
    </link>

    <!--right arm 01 eskin right_eskin_01-3lib-07-->
    <joint name="right_eskin_01-3axis_to_right_eskin_01-3lib-07" type="fixed">
            <origin xyz="0.03864707  -0.020118  0.028" rpy=" 0.0 0.0 -0.47996"/>
            <parent link="right_eskin_01-3axis"/>
            <child link="right_eskin_01-3lib-07"/>
            <axis xyz="0.0 0.0 1.0"/>
            <limit lower="-6.28318530718" upper="6.28318530718" effort="56.0" velocity="1.5708"/>
    </joint>

    <!--right arm right_eskin_01-3lib-07 -->
    <link name="right_eskin_01-3lib-07">
        <visual>
            <origin xyz="0.0 0.0 0.0" rpy="0.0 0.0 0.0"/>
            <geometry>
                <mesh filename ="meshes/e_skin/01_meshs/01_lib_py.dae"/>
            </geometry>
            <material name = "LightGrey"/>
        </visual>
        <collision>
            <origin xyz="0.0 0.0 0.0" rpy="0.0 0.0 0.0"/>
        <geometry>
             <mesh filename ="meshes/e_skin/01_meshs/01_lib_py.stl"/>
        </geometry>
        </collision>
        <inertial>
            <origin xyz="0 0 0" rpy="0 0 0" />
            <mass value ="2.0"/>
            <inertia ixx="0.008093163" ixy="0.0" ixz="0.0" iyy="0.008093163" iyz="0.0" izz="0.005625"/>
        </inertial>
    </link>


    <!--right arm 01 eskin right_eskin_01-3lib-08-->
    <joint name="right_eskin_01-3axis_to_right_eskin_01-3lib-08" type="fixed">
            <origin xyz="0.038647  0.020118  0.028" rpy=" 0.0 0.0 0.479965"/>
            <parent link="right_eskin_01-3axis"/>
            <child link="right_eskin_01-3lib-08"/>
            <axis xyz="0.0 0.0 1.0"/>
            <limit lower="-6.28318530718" upper="6.28318530718" effort="56.0" velocity="1.5708"/>
    </joint>

    <!--right arm right_eskin_01-3lib-08 -->
    <link name="right_eskin_01-3lib-08">
        <visual>
            <origin xyz="0.0 0.0 0.0" rpy="0.0 0.0 0.0"/>
            <geometry>
                <mesh filename ="meshes/e_skin/01_meshs/01_lib_py.dae"/>
            </geometry>
            <material name = "LightGrey"/>
        </visual>
        <collision>
            <origin xyz="0.0 0.0 0.0" rpy="0.0 0.0 0.0"/>
        <geometry>
             <mesh filename ="meshes/e_skin/01_meshs/01_lib_py.stl"/>
        </geometry>
        </collision>
        <inertial>
            <origin xyz="0 0 0" rpy="0 0 0" />
            <mass value ="2.0"/>
            <inertia ixx="0.008093163" ixy="0.0" ixz="0.0" iyy="0.008093163" iyz="0.0" izz="0.005625"/>
        </inertial>
    </link>


    <!--right arm 01 eskin right_eskin_01-3lib-09-->
    <joint name="right_eskin_01-3axis_to_right_eskin_01-3lib-09" type="fixed">
            <origin xyz="0.005687  0.043197 0.028" rpy=" 0.0 0.0 1.43989542"/>
            <parent link="right_eskin_01-3axis"/>
            <child link="right_eskin_01-3lib-09"/>
            <axis xyz="0.0 0.0 1.0"/>
            <limit lower="-6.28318530718" upper="6.28318530718" effort="56.0" velocity="1.5708"/>
    </joint>

    <!--right arm right_eskin_01-3lib-09 -->
    <link name="right_eskin_01-3lib-09">
        <visual>
            <origin xyz="0.0 0.0 0.0" rpy="0.0 0.0 0.0"/>
            <geometry>
                <mesh filename ="meshes/e_skin/01_meshs/01_lib_py.dae"/>
            </geometry>
            <material name = "LightGrey"/>
        </visual>
        <collision>
            <origin xyz="0.0 0.0 0.0" rpy="0.0 0.0 0.0"/>
        <geometry>
             <mesh filename ="meshes/e_skin/01_meshs/01_lib_py.stl"/>
        </geometry>
        </collision>
        <inertial>
            <origin xyz="0 0 0" rpy="0 0 0" />
            <mass value ="2.0"/>
            <inertia ixx="0.008093163" ixy="0.0" ixz="0.0" iyy="0.008093163" iyz="0.0" izz="0.005625"/>
        </inertial>
    </link>




    <!-- right_arm  01-3  eskin second  culon -->

    <!--right arm 01 eskin right_eskin_01-3lib-01-->
    <joint name="right_eskin_01-3axis_to_right_eskin_01-3lib-01" type="fixed">
            <origin xyz="0.04375  0.0  0.072" rpy=" 0.0 0.0 0.0"/>
            <parent link="right_eskin_01-3axis"/>
            <child link="right_eskin_01-3lib-01"/>
            <axis xyz="0.0 0.0 1.0"/>
            <limit lower="-6.28318530718" upper="6.28318530718" effort="56.0" velocity="1.5708"/>
    </joint>

    <!--right arm right_eskin_01-3lib-01 -->
    <link name="right_eskin_01-3lib-01">
        <visual>
            <origin xyz="0.0 0.0 0.0" rpy="0.0 0.0 0.0"/>
            <geometry>
                <mesh filename ="meshes/e_skin/01_meshs/01_lib_py.dae"/>
            </geometry>
            <material name = "LightGrey"/>
        </visual>
        <collision>
            <origin xyz="0.0 0.0 0.0" rpy="0.0 0.0 0.0"/>
        <geometry>
             <mesh filename ="meshes/e_skin/01_meshs/01_lib_py.stl"/>
        </geometry>
        </collision>
        <inertial>
            <origin xyz="0 0 0" rpy="0 0 0" />
            <mass value ="2.0"/>
            <inertia ixx="0.008093163" ixy="0.0" ixz="0.0" iyy="0.008093163" iyz="0.0" izz="0.005625"/>
        </inertial>
    </link>

    <!--right arm 01 eskin right_eskin_01-3lib-02-->
    <joint name="right_eskin_01-3axis_to_right_eskin_01-3lib-02" type="fixed">
            <origin xyz="0.02499075  0.03569  0.072" rpy=" 0.0 0.0 0.95993028"/>
            <parent link="right_eskin_01-3axis"/>
            <child link="right_eskin_01-3lib-02"/>
            <axis xyz="0.0 0.0 1.0"/>
            <limit lower="-6.28318530718" upper="6.28318530718" effort="56.0" velocity="1.5708"/>
    </joint>

    <!--right arm right_eskin_01-3lib-02 -->
    <link name="right_eskin_01-3lib-02">
        <visual>
            <origin xyz="0.0 0.0 0.0" rpy="0.0 0.0 0.0"/>
            <geometry>
                <mesh filename ="meshes/e_skin/01_meshs/01_lib_py.dae"/>
            </geometry>
            <material name = "LightGrey"/>
        </visual>
        <collision>
            <origin xyz="0.0 0.0 0.0" rpy="0.0 0.0 0.0"/>
        <geometry>
             <mesh filename ="meshes/e_skin/01_meshs/01_lib_py.stl"/>
        </geometry>
        </collision>
        <inertial>
            <origin xyz="0 0 0" rpy="0 0 0" />
            <mass value ="2.0"/>
            <inertia ixx="0.008093163" ixy="0.0" ixz="0.0" iyy="0.008093163" iyz="0.0" izz="0.005625"/>
        </inertial>
    </link>


    <!--right arm 01 eskin right_eskin_01-3lib-03-->
    <joint name="right_eskin_01-3axis_to_right_eskin_01-3lib-03" type="fixed">
            <origin xyz="-0.0149  0.0409424  0.072" rpy=" 0.0 0.0 1.91986"/>
            <parent link="right_eskin_01-3axis"/>
            <child link="right_eskin_01-3lib-03"/>
            <axis xyz="0.0 0.0 1.0"/>
            <limit lower="-6.28318530718" upper="6.28318530718" effort="56.0" velocity="1.5708"/>
    </joint>

    <!--right arm right_eskin_01-3lib-03 -->
    <link name="right_eskin_01-3lib-03">
        <visual>
            <origin xyz="0.0 0.0 0.0" rpy="0.0 0.0 0.0"/>
            <geometry>
                <mesh filename ="meshes/e_skin/01_meshs/01_lib_py.dae"/>
            </geometry>
            <material name = "LightGrey"/>
        </visual>
        <collision>
            <origin xyz="0.0 0.0 0.0" rpy="0.0 0.0 0.0"/>
        <geometry>
             <mesh filename ="meshes/e_skin/01_meshs/01_lib_py.stl"/>
        </geometry>
        </collision>
        <inertial>
            <origin xyz="0 0 0" rpy="0 0 0" />
            <mass value ="2.0"/>
            <inertia ixx="0.008093163" ixy="0.0" ixz="0.0" iyy="0.008093163" iyz="0.0" izz="0.005625"/>
        </inertial>
    </link>


    <!--right arm 01 eskin right_eskin_01-3lib-04-->
    <joint name="right_eskin_01-3axis_to_right_eskin_01-3lib-04" type="fixed">
            <origin xyz="0.02499  -0.03569  0.072" rpy=" 0.0 0.0 -0.95993"/>
            <parent link="right_eskin_01-3axis"/>
            <child link="right_eskin_01-3lib-04"/>
            <axis xyz="0.0 0.0 1.0"/>
            <limit lower="-6.28318530718" upper="6.28318530718" effort="56.0" velocity="1.5708"/>
    </joint>

    <!--right arm right_eskin_01-3lib-04 -->
    <link name="right_eskin_01-3lib-04">
        <visual>
            <origin xyz="0.0 0.0 0.0" rpy="0.0 0.0 0.0"/>
            <geometry>
                <mesh filename ="meshes/e_skin/01_meshs/01_lib_py.dae"/>
            </geometry>
            <material name = "LightGrey"/>
        </visual>
        <collision>
            <origin xyz="0.0 0.0 0.0" rpy="0.0 0.0 0.0"/>
        <geometry>
             <mesh filename ="meshes/e_skin/01_meshs/01_lib_py.stl"/>
        </geometry>
        </collision>
        <inertial>
            <origin xyz="0 0 0" rpy="0 0 0" />
            <mass value ="2.0"/>
            <inertia ixx="0.008093163" ixy="0.0" ixz="0.0" iyy="0.008093163" iyz="0.0" izz="0.005625"/>
        </inertial>
    </link>


    <!--right arm 01 eskin right_eskin_01-3lib-05-->
    <joint name="right_eskin_01-3axis_to_right_eskin_01-3lib-05" type="fixed">
            <origin xyz="-0.0149  -0.04094  0.072" rpy=" 0.0 0.0 -1.91986"/>
            <parent link="right_eskin_01-3axis"/>
            <child link="right_eskin_01-3lib-05"/>
            <axis xyz="0.0 0.0 1.0"/>
            <limit lower="-6.28318530718" upper="6.28318530718" effort="56.0" velocity="1.5708"/>
    </joint>

    <!--right arm right_eskin_01-3lib-05 -->
    <link name="right_eskin_01-3lib-05">
        <visual>
            <origin xyz="0.0 0.0 0.0" rpy="0.0 0.0 0.0"/>
            <geometry>
                <mesh filename ="meshes/e_skin/01_meshs/01_lib_py.dae"/>
            </geometry>
            <material name = "LightGrey"/>
        </visual>
        <collision>
            <origin xyz="0.0 0.0 0.0" rpy="0.0 0.0 0.0"/>
        <geometry>
             <mesh filename ="meshes/e_skin/01_meshs/01_lib_py.stl"/>
        </geometry>
        </collision>
        <inertial>
            <origin xyz="0 0 0" rpy="0 0 0" />
            <mass value ="2.0"/>
            <inertia ixx="0.008093163" ixy="0.0" ixz="0.0" iyy="0.008093163" iyz="0.0" izz="0.005625"/>
        </inertial>
    </link>


    <!-- right_arm  01-3  eskin flat  culon -->

    <!--right arm 01 eskin right_eskin_01-3lib-10-->
    <joint name="right_eskin_01-3axis_to_right_eskin_01-3lib-10" type="fixed">
            <origin xyz="0.0  0.0  0.105" rpy=" 0.0 0.0 0.0"/>
            <parent link="right_eskin_01-3axis"/>
            <child link="right_eskin_01-3lib-10"/>
            <axis xyz="0.0 0.0 1.0"/>
            <limit lower="-6.28318530718" upper="6.28318530718" effort="56.0" velocity="1.5708"/>
    </joint>

    <!--right arm right_eskin_01-3lib-10 -->
    <link name="right_eskin_01-3lib-10">
        <visual>
            <origin xyz="0.0 0.0 0.0" rpy="0.0 0.0 0.0"/>
            <geometry>
                <mesh filename ="meshes/e_skin/01_meshs/flat_py.dae"/>
            </geometry>
            <material name = "LightGrey"/>
        </visual>
        <collision>
            <origin xyz="0.0 0.0 0.0" rpy="0.0 0.0 0.0"/>
        <geometry>
             <mesh filename ="meshes/e_skin/01_meshs/flat_py.stl"/>
        </geometry>
        </collision>
        <inertial>
            <origin xyz="0 0 0" rpy="0 0 0" />
            <mass value ="2.0"/>
            <inertia ixx="0.008093163" ixy="0.0" ixz="0.0" iyy="0.008093163" iyz="0.0" izz="0.005625"/>
        </inertial>
    </link>

    <!--right wrist1_joint--> 
    <joint name="right_wrist_1_link_to_right_forearm_link" type="revolute">
        <origin xyz="-0.21325 0.0 0.10305" rpy="0.0 0.0 0.0"/>
        <parent link="right_forearm_link"/>
        <child link="right_wrist_1_link"/>
        <axis xyz="0.0 0.0 1"/>
        <limit lower="-6.28318530718" upper="6.28318530718" effort="12.0" velocity="6.28318530718"/>
    </joint>

    <!---->
    <link name="right_wrist_1_link">
        <inertial>
            <origin xyz=" 0.0  0.0  0.0" rpy="0.0  0.0 0.0"/>
            <mass value  ="0.8"/>
            <inertia ixx="0.002084999" ixy="0.0" ixz="0.0" iyy="0.002084999" iyz="0.0" izz="0.00225"/>
        </inertial>
        <visual>
            <origin xyz="0.0 0.0 -0.10305" rpy="1.5708 0.0 0.0"/>
            <geometry>
            <mesh filename="meshes/wrist1.dae"/>
            </geometry>
            <material  name ="LightGrey"/>
        </visual>
        <collision>
            <origin xyz="0.0 0.0 -0.10305" rpy="1.5708 0.0 0.0"/>
            <geometry>
                <mesh filename="meshes/wrist1.stl"/>
            </geometry>
        </collision>
    </link>

    <!--right wrist2_joint -->
    <joint name="right_wrist_2_link_to_right_wrist_1_link" type="revolute">
        <origin xyz="0.0 -0.08535 0.0" rpy="1.5708 0.0 0.0"/>
        <parent link="right_wrist_1_link"/>
        <child link="right_wrist_2_link"/>
        <axis xyz="0.0 0.0 1"/>
        <limit lower="-6.28318530718" upper="6.28318530718" effort="12.0" velocity="6.28318530718"/> 
    </joint>

    <!---->
    <link name="right_wrist_2_link">
        <inertial>
            <origin xyz="0.0 0.0 0.0" rpy="0.0 0.0 0.0"/>
            <mass value  = "0.8"/>
            <inertia ixx="0.002084999" ixy="0.0" ixz="0.0" iyy="0.002084999" iyz="0.0" izz="0.00225"/>
        </inertial>
        <visual >
            <origin xyz="0.0 0.0 -0.08535" rpy="0.0 0.0 0.0"/>
            <geometry>
                <mesh filename="meshes/wrist2.dae"/>
            </geometry>
            <material  name ="LightGrey"/>
        </visual>
        <collision>
            <origin xyz="0.0 0.0 -0.08535" rpy="0.0 0.0 0.0"/>
            <geometry>
                <mesh filename="meshes/wrist2.stl"/>
            </geometry>
        </collision>
    </link>

    <!--right sensor2_joint-->
   <joint name="right_wrist_1_link_to_right_eskin_01-2axis" type="fixed">
        <origin xyz="0. -0.041 0.0056" rpy="-1.5708 -1.5708 0.0"/>
        <parent link="right_wrist_1_link"/>
        <child link="right_eskin_01-2axis"/>
        <axis xyz="0.0 0.0 1"/>
    </joint>

    <link name="right_eskin_01-2axis">
        <inertial>
            <origin xyz=" 0.0 0.0  0.0" rpy="0.0 0.0 0.0"/>
            <mass value  ="0.0"/>
            <inertia ixx="0.002084999" ixy="0.0" ixz="0.0" iyy="0.002084999" iyz="0.0" izz="0.00225"/>
        </inertial>
        <visual>
            <origin xyz=" 0.0 0.0 -0.0" rpy="0.0 0.0 0.0"/>
            <geometry>
            <mesh filename="meshes/e_skin/01_meshs/01_axis_py.dae"/>
            </geometry>
            <material  name ="LightGrey"/>
        </visual>
        <collision>
            <origin xyz=" 0.0 0.0 -0.00" rpy="0.0 0.0 0.0"/>
            <geometry>
                <mesh filename="meshes/e_skin/01_meshs/01_axis_py.dae"/>
            </geometry>
        </collision>
    </link>

    <!-- right_arm  01-2  eskin first  culon -->

    <!--right arm 01 eskin right_eskin_01-2lib-06-->
    <joint name="right_eskin_01-2axis_to_right_eskin_01-2lib-06" type="fixed">
            <origin xyz="0.005687  -0.043197  0.028" rpy=" 0.0 0.0 -1.43989542"/>
            <parent link="right_eskin_01-2axis"/>
            <child link="right_eskin_01-2lib-06"/>
            <axis xyz="0.0 0.0 1.0"/>
            <limit lower="-6.28318530718" upper="6.28318530718" effort="56.0" velocity="1.5708"/>
    </joint>

    <!--right arm right_eskin_01-2lib-06 -->
    <link name="right_eskin_01-2lib-06">
        <visual>
            <origin xyz="0.0 0.0 0.0" rpy="0.0 0.0 0.0"/>
            <geometry>
                <mesh filename ="meshes/e_skin/01_meshs/01_lib_py.dae"/>
            </geometry>
            <material name = "LightGrey"/>
        </visual>
        <collision>
            <origin xyz="0.0 0.0 0.0" rpy="0.0 0.0 0.0"/>
        <geometry>
             <mesh filename ="meshes/e_skin/01_meshs/01_lib_py.stl"/>
        </geometry>
        </collision>
        <inertial>
            <origin xyz="0 0 0" rpy="0 0 0" />
            <mass value ="2.0"/>
            <inertia ixx="0.008093163" ixy="0.0" ixz="0.0" iyy="0.008093163" iyz="0.0" izz="0.005625"/>
        </inertial>
    </link>

    <!--right arm 01 eskin right_eskin_01-2lib-07-->
    <joint name="right_eskin_01-2axis_to_right_eskin_01-2lib-07" type="fixed">
            <origin xyz="0.03864707  -0.020118  0.028" rpy=" 0.0 0.0 -0.47996"/>
            <parent link="right_eskin_01-2axis"/>
            <child link="right_eskin_01-2lib-07"/>
            <axis xyz="0.0 0.0 1.0"/>
            <limit lower="-6.28318530718" upper="6.28318530718" effort="56.0" velocity="1.5708"/>
    </joint>

    <!--right arm right_eskin_01-2lib-07 -->
    <link name="right_eskin_01-2lib-07">
        <visual>
            <origin xyz="0.0 0.0 0.0" rpy="0.0 0.0 0.0"/>
            <geometry>
                <mesh filename ="meshes/e_skin/01_meshs/01_lib_py.dae"/>
            </geometry>
            <material name = "LightGrey"/>
        </visual>
        <collision>
            <origin xyz="0.0 0.0 0.0" rpy="0.0 0.0 0.0"/>
        <geometry>
             <mesh filename ="meshes/e_skin/01_meshs/01_lib_py.stl"/>
        </geometry>
        </collision>
        <inertial>
            <origin xyz="0 0 0" rpy="0 0 0" />
            <mass value ="2.0"/>
            <inertia ixx="0.008093163" ixy="0.0" ixz="0.0" iyy="0.008093163" iyz="0.0" izz="0.005625"/>
        </inertial>
    </link>


    <!--right arm 01 eskin right_eskin_01-2lib-08-->
    <joint name="right_eskin_01-2axis_to_right_eskin_01-2lib-08" type="fixed">
            <origin xyz="0.038647  0.020118  0.028" rpy=" 0.0  0.0  0.479965"/>
            <parent link="right_eskin_01-2axis"/>
            <child link="right_eskin_01-2lib-08"/>
            <axis xyz="0.0 0.0 1.0"/>
            <limit lower="-6.28318530718" upper="6.28318530718" effort="56.0" velocity="1.5708"/>
    </joint>

    <!--right arm right_eskin_01-2lib-08 -->
    <link name="right_eskin_01-2lib-08">
        <visual>
            <origin xyz="0.0 0.0 0.0" rpy="0.0 0.0 0.0"/>
            <geometry>
                <mesh filename ="meshes/e_skin/01_meshs/01_lib_py.dae"/>
            </geometry>
            <material name = "LightGrey"/>
        </visual>
        <collision>
            <origin xyz="0.0 0.0 0.0" rpy="0.0 0.0 0.0"/>
        <geometry>
             <mesh filename ="meshes/e_skin/01_meshs/01_lib_py.stl"/>
        </geometry>
        </collision>
        <inertial>
            <origin xyz="0 0 0" rpy="0 0 0" />
            <mass value ="2.0"/>
            <inertia ixx="0.008093163" ixy="0.0" ixz="0.0" iyy="0.008093163" iyz="0.0" izz="0.005625"/>
        </inertial>
    </link>


    <!--right arm 01 eskin right_eskin_01-2lib-09-->
    <joint name="right_eskin_01-2axis_to_right_eskin_01-2lib-09" type="fixed">
            <origin xyz="0.005687  0.043197 0.028" rpy=" 0.0 0.0 1.43989542"/>
            <parent link="right_eskin_01-2axis"/>
            <child link="right_eskin_01-2lib-09"/>
            <axis xyz="0.0 0.0 1.0"/>
            <limit lower="-6.28318530718" upper="6.28318530718" effort="56.0" velocity="1.5708"/>
    </joint>

    <!--right arm right_eskin_01-2lib-09 -->
    <link name="right_eskin_01-2lib-09">
        <visual>
            <origin xyz="0.0 0.0 0.0" rpy="0.0 0.0 0.0"/>
            <geometry>
                <mesh filename ="meshes/e_skin/01_meshs/01_lib_py.dae"/>
            </geometry>
            <material name = "LightGrey"/>
        </visual>
        <collision>
            <origin xyz="0.0 0.0 0.0" rpy="0.0 0.0 0.0"/>
        <geometry>
             <mesh filename ="meshes/e_skin/01_meshs/01_lib_py.stl"/>
        </geometry>
        </collision>
        <inertial>
            <origin xyz="0 0 0" rpy="0 0 0" />
            <mass value ="2.0"/>
            <inertia ixx="0.008093163" ixy="0.0" ixz="0.0" iyy="0.008093163" iyz="0.0" izz="0.005625"/>
        </inertial>
    </link>




    <!-- right_arm  01-2  eskin second  culon -->

    <!--right arm 01 eskin right_eskin_01-2lib-01-->
    <joint name="right_eskin_01-2axis_to_right_eskin_01-2lib-01" type="fixed">
            <origin xyz="0.04375  0.0  0.072" rpy=" 0.0 0.0 0.0"/>
            <parent link="right_eskin_01-2axis"/>
            <child link="right_eskin_01-2lib-01"/>
            <axis xyz="0.0 0.0 1.0"/>
            <limit lower="-6.28318530718" upper="6.28318530718" effort="56.0" velocity="1.5708"/>
    </joint>

    <!--right arm right_eskin_01-2lib-01 -->
    <link name="right_eskin_01-2lib-01">
        <visual>
            <origin xyz="0.0 0.0 0.0" rpy="0.0 0.0 0.0"/>
            <geometry>
                <mesh filename ="meshes/e_skin/01_meshs/01_lib_py.dae"/>
            </geometry>
            <material name = "LightGrey"/>
        </visual>
        <collision>
            <origin xyz="0.0 0.0 0.0" rpy="0.0 0.0 0.0"/>
        <geometry>
             <mesh filename ="meshes/e_skin/01_meshs/01_lib_py.stl"/>
        </geometry>
        </collision>
        <inertial>
            <origin xyz="0 0 0" rpy="0 0 0" />
            <mass value ="2.0"/>
            <inertia ixx="0.008093163" ixy="0.0" ixz="0.0" iyy="0.008093163" iyz="0.0" izz="0.005625"/>
        </inertial>
    </link>

    <!--right arm 01 eskin right_eskin_01-2lib-02-->
    <joint name="right_eskin_01-2axis_to_right_eskin_01-2lib-02" type="fixed">
            <origin xyz="0.02499075  0.03569  0.072" rpy=" 0.0 0.0 0.95993028"/>
            <parent link="right_eskin_01-2axis"/>
            <child link="right_eskin_01-2lib-02"/>
            <axis xyz="0.0 0.0 1.0"/>
            <limit lower="-6.28318530718" upper="6.28318530718" effort="56.0" velocity="1.5708"/>
    </joint>

    <!--right arm right_eskin_01-2lib-02 -->
    <link name="right_eskin_01-2lib-02">
        <visual>
            <origin xyz="0.0 0.0 0.0" rpy="0.0 0.0 0.0"/>
            <geometry>
                <mesh filename ="meshes/e_skin/01_meshs/01_lib_py.dae"/>
            </geometry>
            <material name = "LightGrey"/>
        </visual>
        <collision>
            <origin xyz="0.0 0.0 0.0" rpy="0.0 0.0 0.0"/>
        <geometry>
             <mesh filename ="meshes/e_skin/01_meshs/01_lib_py.stl"/>
        </geometry>
        </collision>
        <inertial>
            <origin xyz="0 0 0" rpy="0 0 0" />
            <mass value ="2.0"/>
            <inertia ixx="0.008093163" ixy="0.0" ixz="0.0" iyy="0.008093163" iyz="0.0" izz="0.005625"/>
        </inertial>
    </link>


    <!--right arm 01 eskin right_eskin_01-2lib-03-->
    <joint name="right_eskin_01-2axis_to_right_eskin_01-2lib-03" type="fixed">
            <origin xyz="-0.0149  0.0409424  0.072" rpy=" 0.0 0.0 1.91986"/>
            <parent link="right_eskin_01-2axis"/>
            <child link="right_eskin_01-2lib-03"/>
            <axis xyz="0.0 0.0 1.0"/>
            <limit lower="-6.28318530718" upper="6.28318530718" effort="56.0" velocity="1.5708"/>
    </joint>

    <!--right arm right_eskin_01-2lib-03 -->
    <link name="right_eskin_01-2lib-03">
        <visual>
            <origin xyz="0.0 0.0 0.0" rpy="0.0 0.0 0.0"/>
            <geometry>
                <mesh filename ="meshes/e_skin/01_meshs/01_lib_py.dae"/>
            </geometry>
            <material name = "LightGrey"/>
        </visual>
        <collision>
            <origin xyz="0.0 0.0 0.0" rpy="0.0 0.0 0.0"/>
        <geometry>
             <mesh filename ="meshes/e_skin/01_meshs/01_lib_py.stl"/>
        </geometry>
        </collision>
        <inertial>
            <origin xyz="0 0 0" rpy="0 0 0" />
            <mass value ="2.0"/>
            <inertia ixx="0.008093163" ixy="0.0" ixz="0.0" iyy="0.008093163" iyz="0.0" izz="0.005625"/>
        </inertial>
    </link>


    <!--right arm 01 eskin right_eskin_01-2lib-04-->
    <joint name="right_eskin_01-2axis_to_right_eskin_01-2lib-04" type="fixed">
            <origin xyz="0.02499  -0.03569  0.072" rpy=" 0.0 0.0 -0.95993"/>
            <parent link="right_eskin_01-2axis"/>
            <child link="right_eskin_01-2lib-04"/>
            <axis xyz="0.0 0.0 1.0"/>
            <limit lower="-6.28318530718" upper="6.28318530718" effort="56.0" velocity="1.5708"/>
    </joint>

    <!--right arm right_eskin_01-2lib-04 -->
    <link name="right_eskin_01-2lib-04">
        <visual>
            <origin xyz="0.0 0.0 0.0" rpy="0.0 0.0 0.0"/>
            <geometry>
                <mesh filename ="meshes/e_skin/01_meshs/01_lib_py.dae"/>
            </geometry>
            <material name = "LightGrey"/>
        </visual>
        <collision>
            <origin xyz="0.0 0.0 0.0" rpy="0.0 0.0 0.0"/>
        <geometry>
             <mesh filename ="meshes/e_skin/01_meshs/01_lib_py.stl"/>
        </geometry>
        </collision>
        <inertial>
            <origin xyz="0 0 0" rpy="0 0 0" />
            <mass value ="2.0"/>
            <inertia ixx="0.008093163" ixy="0.0" ixz="0.0" iyy="0.008093163" iyz="0.0" izz="0.005625"/>
        </inertial>
    </link>


    <!--right arm 01 eskin right_eskin_01-2lib-05-->
    <joint name="right_eskin_01-2axis_to_right_eskin_01-2lib-05" type="fixed">
            <origin xyz="-0.0149  -0.04094  0.072" rpy=" 0.0 0.0 -1.91986"/>
            <parent link="right_eskin_01-2axis"/>
            <child link="right_eskin_01-2lib-05"/>
            <axis xyz="0.0 0.0 1.0"/>
            <limit lower="-6.28318530718" upper="6.28318530718" effort="56.0" velocity="1.5708"/>
    </joint>

    <!--right arm right_eskin_01-2lib-05 -->
    <link name="right_eskin_01-2lib-05">
        <visual>
            <origin xyz="0.0 0.0 0.0" rpy="0.0 0.0 0.0"/>
            <geometry>
                <mesh filename ="meshes/e_skin/01_meshs/01_lib_py.dae"/>
            </geometry>
            <material name = "LightGrey"/>
        </visual>
        <collision>
            <origin xyz="0.0 0.0 0.0" rpy="0.0 0.0 0.0"/>
        <geometry>
             <mesh filename ="meshes/e_skin/01_meshs/01_lib_py.stl"/>
        </geometry>
        </collision>
        <inertial>
            <origin xyz="0 0 0" rpy="0 0 0" />
            <mass value ="2.0"/>
            <inertia ixx="0.008093163" ixy="0.0" ixz="0.0" iyy="0.008093163" iyz="0.0" izz="0.005625"/>
        </inertial>
    </link>


    <!--right_arm  01-3  eskin flat  culon -->

    <!--right arm 01 eskin right_eskin_01-2lib-10-->
    <joint name="right_eskin_01-2axis_to_right_eskin_01-2lib-10" type="fixed">
            <origin xyz="0.0 0.0 0.105" rpy=" 0.0 0.0 0.0"/>
            <parent link="right_eskin_01-2axis"/>
            <child link="right_eskin_01-2lib-10"/>
            <axis xyz="0.0 0.0 1.0"/>
            <limit lower="-6.28318530718" upper="6.28318530718" effort="56.0" velocity="1.5708"/>
    </joint>

    <!--right arm right_eskin_01-2lib-10 -->
    <link name="right_eskin_01-2lib-10">
        <visual>
            <origin xyz="0.0 0.0 0.0" rpy="0.0 0.0 0.0"/>
            <geometry>
                <mesh filename ="meshes/e_skin/01_meshs/flat_py.dae"/>
            </geometry>
            <material name = "LightGrey"/>
        </visual>
        <collision>
            <origin xyz="0.0 0.0 0.0" rpy="0.0 0.0 0.0"/>
        <geometry>
             <mesh filename ="meshes/e_skin/01_meshs/flat_py.stl"/>
        </geometry>
        </collision>
        <inertial>
            <origin xyz="0 0 0" rpy="0 0 0" />
            <mass value ="2.0"/>
            <inertia ixx="0.008093163" ixy="0.0" ixz="0.0" iyy="0.008093163" iyz="0.0" izz="0.005625"/>
        </inertial>
    </link>

    
    

    <!--rightsensor3_joint-->
   <joint name="right_wrist_2_link_to_right_eskin_01-1axis" type="fixed">
        <origin xyz="0.0 0.041 0.0" rpy="0.0 -1.5708 1.5708"/>
        <parent link="right_wrist_2_link"/>
        <child link="right_eskin_01-1axis"/>
        <axis xyz="0.0 0.0 1"/>
    </joint>

    <link name="right_eskin_01-1axis">
        <inertial>
            <origin xyz=" 0.0 0.0  0.0" rpy="0.0 0.0 0.0"/>
            <mass value  ="0.0"/>
            <inertia ixx="0.002084999" ixy="0.0" ixz="0.0" iyy="0.002084999" iyz="0.0" izz="0.00225"/>
        </inertial>
        <visual>
            <origin xyz=" 0.0 0.0 -0.0" rpy="0.0 0.0 0.0"/>
            <geometry>
            <mesh filename="meshes/e_skin/01_meshs/01_axis_py.dae"/>
            </geometry>
            <material  name ="LightGrey"/>
        </visual>
        <collision>
            <origin xyz=" 0.0 0.0 0.00" rpy="0.0 0.0 0.0"/>
            <geometry>
                <mesh filename="meshes/e_skin/01_meshs/01_axis_py.dae"/>
            </geometry>
        </collision>
    </link>


    <!-- right_arm  01-1  eskin first  culon -->

    <!--right arm 01 eskin right_eskin_01-1lib-06-->
    <joint name="right_eskin_01-1axis_to_right_eskin_01-1lib-06" type="fixed">
            <origin xyz="0.005687  -0.043197  0.028" rpy=" 0.0 0.0 -1.43989542"/>
            <parent link="right_eskin_01-1axis"/>
            <child link="right_eskin_01-1lib-06"/>
            <axis xyz="0.0 0.0 1.0"/>
            <limit lower="-6.28318530718" upper="6.28318530718" effort="56.0" velocity="1.5708"/>
    </joint>

    <!--right arm right_eskin_01-1lib-06 -->
    <link name="right_eskin_01-1lib-06">
        <visual>
            <origin xyz="0.0 0.0 0.0" rpy="0.0 0.0 0.0"/>
            <geometry>
                <mesh filename ="meshes/e_skin/01_meshs/01_lib_py.dae"/>
            </geometry>
            <material name = "LightGrey"/>
        </visual>
        <collision>
            <origin xyz="0.0 0.0 0.0" rpy="0.0 0.0 0.0"/>
        <geometry>
             <mesh filename ="meshes/e_skin/01_meshs/01_lib_py.stl"/>
        </geometry>
        </collision>
        <inertial>
            <origin xyz="0 0 0" rpy="0 0 0" />
            <mass value ="2.0"/>
            <inertia ixx="0.008093163" ixy="0.0" ixz="0.0" iyy="0.008093163" iyz="0.0" izz="0.005625"/>
        </inertial>
    </link>

    <!--right arm 01 eskin right_eskin_01-1lib-07-->
    <joint name="right_eskin_01-1axis_to_right_eskin_01-1lib-07" type="fixed">
            <origin xyz="0.03864707  -0.020118  0.028" rpy=" 0.0 0.0 -0.47996"/>
            <parent link="right_eskin_01-1axis"/>
            <child link="right_eskin_01-1lib-07"/>
            <axis xyz="0.0 0.0 1.0"/>
            <limit lower="-6.28318530718" upper="6.28318530718" effort="56.0" velocity="1.5708"/>
    </joint>

    <!--right arm right_eskin_01-1lib-07 -->
    <link name="right_eskin_01-1lib-07">
        <visual>
            <origin xyz="0.0 0.0 0.0" rpy="0.0 0.0 0.0"/>
            <geometry>
                <mesh filename ="meshes/e_skin/01_meshs/01_lib_py.dae"/>
            </geometry>
            <material name = "LightGrey"/>
        </visual>
        <collision>
            <origin xyz="0.0 0.0 0.0" rpy="0.0 0.0 0.0"/>
        <geometry>
             <mesh filename ="meshes/e_skin/01_meshs/01_lib_py.stl"/>
        </geometry>
        </collision>
        <inertial>
            <origin xyz="0 0 0" rpy="0 0 0" />
            <mass value ="2.0"/>
            <inertia ixx="0.008093163" ixy="0.0" ixz="0.0" iyy="0.008093163" iyz="0.0" izz="0.005625"/>
        </inertial>
    </link>


    <!--right arm 01 eskin right_eskin_01-1lib-08-->
    <joint name="right_eskin_01-1axis_to_right_eskin_01-1lib-08" type="fixed">
            <origin xyz="0.038647  0.020118  0.028" rpy=" 0.0 0.0 0.479965"/>
            <parent link="right_eskin_01-1axis"/>
            <child link="right_eskin_01-1lib-08"/>
            <axis xyz="0.0 0.0 1.0"/>
            <limit lower="-6.28318530718" upper="6.28318530718" effort="56.0" velocity="1.5708"/>
    </joint>

    <!--right arm right_eskin_01-1lib-08 -->
    <link name="right_eskin_01-1lib-08">
        <visual>
            <origin xyz="0.0 0.0 0.0" rpy="0.0 0.0 0.0"/>
            <geometry>
                <mesh filename ="meshes/e_skin/01_meshs/01_lib_py.dae"/>
            </geometry>
            <material name = "LightGrey"/>
        </visual>
        <collision>
            <origin xyz="0.0 0.0 0.0" rpy="0.0 0.0 0.0"/>
        <geometry>
             <mesh filename ="meshes/e_skin/01_meshs/01_lib_py.stl"/>
        </geometry>
        </collision>
        <inertial>
            <origin xyz="0 0 0" rpy="0 0 0" />
            <mass value ="2.0"/>
            <inertia ixx="0.008093163" ixy="0.0" ixz="0.0" iyy="0.008093163" iyz="0.0" izz="0.005625"/>
        </inertial>
    </link>


    <!--right arm 01 eskin right_eskin_01-1lib-09-->
    <joint name="right_eskin_01-1axis_to_right_eskin_01-1lib-09" type="fixed">
            <origin xyz="0.005687  0.043197 0.028" rpy=" 0.0 0.0 1.43989542"/>
            <parent link="right_eskin_01-1axis"/>
            <child link="right_eskin_01-1lib-09"/>
            <axis xyz="0.0 0.0 1.0"/>
            <limit lower="-6.28318530718" upper="6.28318530718" effort="56.0" velocity="1.5708"/>
    </joint>

    <!--right arm right_eskin_01-1lib-09 -->
    <link name="right_eskin_01-1lib-09">
        <visual>
            <origin xyz="0.0 0.0 0.0" rpy="0.0 0.0 0.0"/>
            <geometry>
                <mesh filename ="meshes/e_skin/01_meshs/01_lib_py.dae"/>
            </geometry>
            <material name = "LightGrey"/>
        </visual>
        <collision>
            <origin xyz="0.0 0.0 0.0" rpy="0.0 0.0 0.0"/>
        <geometry>
             <mesh filename ="meshes/e_skin/01_meshs/01_lib_py.stl"/>
        </geometry>
        </collision>
        <inertial>
            <origin xyz="0 0 0" rpy="0 0 0" />
            <mass value ="2.0"/>
            <inertia ixx="0.008093163" ixy="0.0" ixz="0.0" iyy="0.008093163" iyz="0.0" izz="0.005625"/>
        </inertial>
    </link>




    <!-- right_arm  01-1  eskin second  culon -->

    <!--right arm 01 eskin right_eskin_01-1lib-01-->
    <joint name="right_eskin_01-1axis_to_right_eskin_01-1lib-01" type="fixed">
            <origin xyz="0.04375  0.0  0.072" rpy=" 0.0 0.0 0.0"/>
            <parent link="right_eskin_01-1axis"/>
            <child link="right_eskin_01-1lib-01"/>
            <axis xyz="0.0 0.0 1.0"/>
            <limit lower="-6.28318530718" upper="6.28318530718" effort="56.0" velocity="1.5708"/>
    </joint>

    <!--right arm right_eskin_01-1lib-01 -->
    <link name="right_eskin_01-1lib-01">
        <visual>
            <origin xyz="0.0 0.0 0.0" rpy="0.0 0.0 0.0"/>
            <geometry>
                <mesh filename ="meshes/e_skin/01_meshs/01_lib_py.dae"/>
            </geometry>
            <material name = "LightGrey"/>
        </visual>
        <collision>
            <origin xyz="0.0 0.0 0.0" rpy="0.0 0.0 0.0"/>
        <geometry>
             <mesh filename ="meshes/e_skin/01_meshs/01_lib_py.stl"/>
        </geometry>
        </collision>
        <inertial>
            <origin xyz="0 0 0" rpy="0 0 0" />
            <mass value ="2.0"/>
            <inertia ixx="0.008093163" ixy="0.0" ixz="0.0" iyy="0.008093163" iyz="0.0" izz="0.005625"/>
        </inertial>
    </link>

    <!--right arm 01 eskin right_eskin_01-1lib-02-->
    <joint name="right_eskin_01-1axis_to_right_eskin_01-1lib-02" type="fixed">
            <origin xyz="0.02499075  0.03569  0.072" rpy=" 0.0 0.0 0.95993028"/>
            <parent link="right_eskin_01-1axis"/>
            <child link="right_eskin_01-1lib-02"/>
            <axis xyz="0.0 0.0 1.0"/>
            <limit lower="-6.28318530718" upper="6.28318530718" effort="56.0" velocity="1.5708"/>
    </joint>

    <!--right arm right_eskin_01-1lib-02 -->
    <link name="right_eskin_01-1lib-02">
        <visual>
            <origin xyz="0.0 0.0 0.0" rpy="0.0 0.0 0.0"/>
            <geometry>
                <mesh filename ="meshes/e_skin/01_meshs/01_lib_py.dae"/>
            </geometry>
            <material name = "LightGrey"/>
        </visual>
        <collision>
            <origin xyz="0.0 0.0 0.0" rpy="0.0 0.0 0.0"/>
        <geometry>
             <mesh filename ="meshes/e_skin/01_meshs/01_lib_py.stl"/>
        </geometry>
        </collision>
        <inertial>
            <origin xyz="0 0 0" rpy="0 0 0" />
            <mass value ="2.0"/>
            <inertia ixx="0.008093163" ixy="0.0" ixz="0.0" iyy="0.008093163" iyz="0.0" izz="0.005625"/>
        </inertial>
    </link>


    <!--right arm 01 eskin right_eskin_01-1lib-03-->
    <joint name="right_eskin_01-1axis_to_right_eskin_01-1lib-03" type="fixed">
            <origin xyz="-0.0149  0.0409424  0.072" rpy=" 0.0 0.0 1.91986"/>
            <parent link="right_eskin_01-1axis"/>
            <child link="right_eskin_01-1lib-03"/>
            <axis xyz="0.0 0.0 1.0"/>
            <limit lower="-6.28318530718" upper="6.28318530718" effort="56.0" velocity="1.5708"/>
    </joint>

    <!--right arm right_eskin_01-1lib-03 -->
    <link name="right_eskin_01-1lib-03">
        <visual>
            <origin xyz="0.0 0.0 0.0" rpy="0.0 0.0 0.0"/>
            <geometry>
                <mesh filename ="meshes/e_skin/01_meshs/01_lib_py.dae"/>
            </geometry>
            <material name = "LightGrey"/>
        </visual>
        <collision>
            <origin xyz="0.0 0.0 0.0" rpy="0.0 0.0 0.0"/>
        <geometry>
             <mesh filename ="meshes/e_skin/01_meshs/01_lib_py.stl"/>
        </geometry>
        </collision>
        <inertial>
            <origin xyz="0 0 0" rpy="0 0 0" />
            <mass value ="2.0"/>
            <inertia ixx="0.008093163" ixy="0.0" ixz="0.0" iyy="0.008093163" iyz="0.0" izz="0.005625"/>
        </inertial>
    </link>


    <!--right arm 01 eskin right_eskin_01-1lib-04-->
    <joint name="right_eskin_01-1axis_to_right_eskin_01-1lib-04" type="fixed">
            <origin xyz="0.02499  -0.03569  0.072" rpy=" 0.0 0.0 -0.95993"/>
            <parent link="right_eskin_01-1axis"/>
            <child link="right_eskin_01-1lib-04"/>
            <axis xyz="0.0 0.0 1.0"/>
            <limit lower="-6.28318530718" upper="6.28318530718" effort="56.0" velocity="1.5708"/>
    </joint>

    <!--right arm right_eskin_01-1lib-04 -->
    <link name="right_eskin_01-1lib-04">
        <visual>
            <origin xyz="0.0 0.0 0.0" rpy="0.0 0.0 0.0"/>
            <geometry>
                <mesh filename ="meshes/e_skin/01_meshs/01_lib_py.dae"/>
            </geometry>
            <material name = "LightGrey"/>
        </visual>
        <collision>
            <origin xyz="0.0 0.0 0.0" rpy="0.0 0.0 0.0"/>
        <geometry>
             <mesh filename ="meshes/e_skin/01_meshs/01_lib_py.stl"/>
        </geometry>
        </collision>
        <inertial>
            <origin xyz="0 0 0" rpy="0 0 0" />
            <mass value ="2.0"/>
            <inertia ixx="0.008093163" ixy="0.0" ixz="0.0" iyy="0.008093163" iyz="0.0" izz="0.005625"/>
        </inertial>
    </link>


    <!--right arm 01 eskin right_eskin_01-1lib-05-->
    <joint name="right_eskin_01-1axis_to_right_eskin_01-1lib-05" type="fixed">
            <origin xyz="-0.0149  -0.04094  0.072" rpy=" 0.0 0.0 -1.91986"/>
            <parent link="right_eskin_01-1axis"/>
            <child link="right_eskin_01-1lib-05"/>
            <axis xyz="0.0 0.0 1.0"/>
            <limit lower="-6.28318530718" upper="6.28318530718" effort="56.0" velocity="1.5708"/>
    </joint>

    <!--right arm right_eskin_01-1lib-05 -->
    <link name="right_eskin_01-1lib-05">
        <visual>
            <origin xyz="0.0 0.0 0.0" rpy="0.0 0.0 0.0"/>
            <geometry>
                <mesh filename ="meshes/e_skin/01_meshs/01_lib_py.dae"/>
            </geometry>
            <material name = "LightGrey"/>
        </visual>
        <collision>
            <origin xyz="0.0 0.0 0.0" rpy="0.0 0.0 0.0"/>
        <geometry>
             <mesh filename ="meshes/e_skin/01_meshs/01_lib_py.stl"/>
        </geometry>
        </collision>
        <inertial>
            <origin xyz="0 0 0" rpy="0 0 0" />
            <mass value ="2.0"/>
            <inertia ixx="0.008093163" ixy="0.0" ixz="0.0" iyy="0.008093163" iyz="0.0" izz="0.005625"/>
        </inertial>
    </link>


    <!--right_arm  01-3  eskin flat  culon -->

    <!--right arm 01 eskin right_eskin_01-1lib-10-->
    <joint name="right_eskin_01-1axis_to_right_eskin_01-1lib-10" type="fixed">
            <origin xyz="0.0  0.0  0.105" rpy=" 0.0 0.0 0.0"/>
            <parent link="right_eskin_01-1axis"/>
            <child link="right_eskin_01-1lib-10"/>
            <axis xyz="0.0 0.0 1.0"/>
            <limit lower="-6.28318530718" upper="6.28318530718" effort="56.0" velocity="1.5708"/>
    </joint>

    <!--right arm right_eskin_01-1lib-10 -->
    <link name="right_eskin_01-1lib-10">
        <visual>
            <origin xyz="0.0 0.0 0.0" rpy="0.0 0.0 0.0"/>
            <geometry>
                <mesh filename ="meshes/e_skin/01_meshs/flat_py.dae"/>
            </geometry>
            <material name = "LightGrey"/>
        </visual>
        <collision>
            <origin xyz="0.0 0.0 0.0" rpy="0.0 0.0 0.0"/>
        <geometry>
             <mesh filename ="meshes/e_skin/01_meshs/flat_py.stl"/>
        </geometry>
        </collision>
        <inertial>
            <origin xyz="0 0 0" rpy="0 0 0" />
            <mass value ="2.0"/>
            <inertia ixx="0.008093163" ixy="0.0" ixz="0.0" iyy="0.008093163" iyz="0.0" izz="0.005625"/>
        </inertial>
    </link>

    <!--right wrist3_joint-->
    <joint name="right_wrist_3_link_to_right_wrist_2_link" type="revolute">
        <origin xyz="0.0 0.0921 0.0" rpy="-1.5708 0.0 0.0"/>
        <parent link="right_wrist_2_link"/>
        <child link="right_wrist_3_link"/>
        <axis xyz="0.0 0.0 1"/>
        <limit lower="-6.28318530718" upper="6.28318530718" effort="12.0" velocity="6.28318530718"/>
    </joint>

    <!--3-->
    <link name="right_wrist_3_link">
        <inertial>
            <origin xyz="0.0 0.0 -0.0175" rpy="0.0 0.0 0.0"/>
            <mass value  ="0.35"/>
            <inertia ixx="0.000136267" ixy="0.0" ixz="0.0" iyy="0.000136267" iyz="0.0" izz="0.0004096"/>
        </inertial>
        <visual >
            <origin xyz="0.0 0.0 -0.0921" rpy="1.5708 0.0 0.0"/>
            <geometry>
                <mesh filename="meshes/wrist3.stl"/>
            </geometry>
            <material  name ="LightGrey"/>
        </visual>
        <collision>
            <origin xyz="0.0 0.0 -0.0921" rpy="1.5708 0.0 0.0"/>
            <geometry>
                <mesh filename="meshes/wrist3.stl"/>
            </geometry>
        </collision>
    </link>
</robot>
